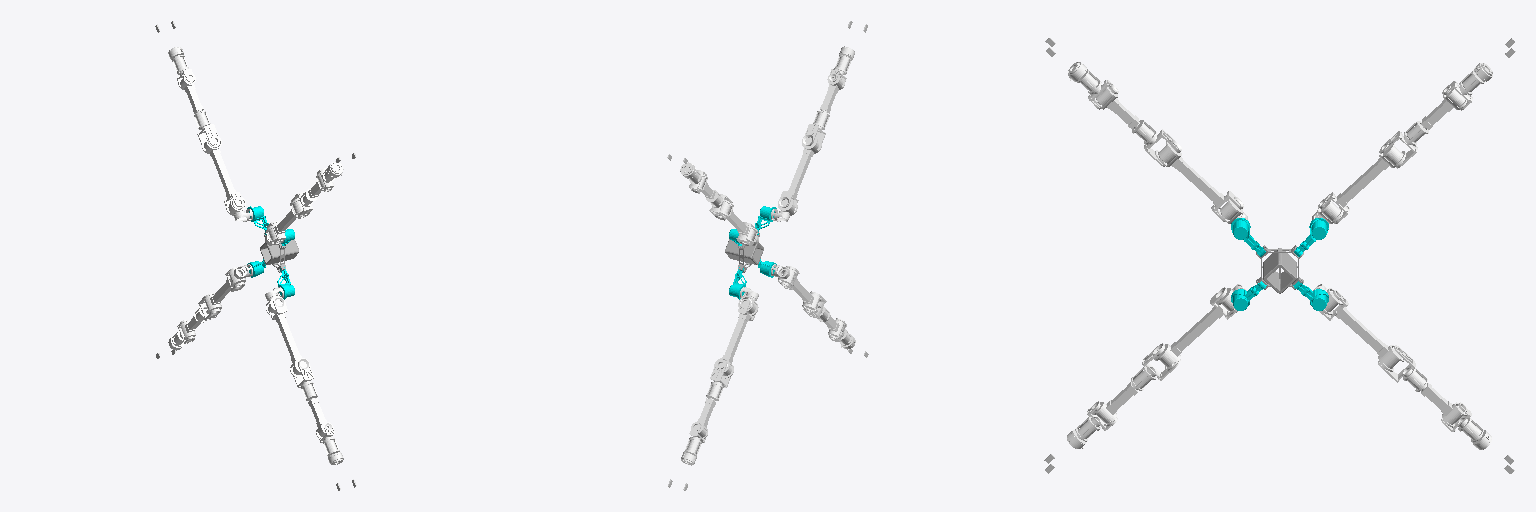
--- Render facts (derived) ---
Views: 3 orthographic renders of the robot side by side, from view 1: azimuth 30°, elevation 25°; view 2: azimuth 150°, elevation 25°; view 3: azimuth 270°, elevation 25°.
Model robot_description with 74 links and 73 joints (52 revolute, 21 fixed), rooted at world, posed all joints at 0.
Links seen in each view (by area): view 1: Link4_2, Link2_2, base_link, Link3_2; view 2: Link3_2, Link1_2, base_link, Link2_2, Link1_3; view 3: base_link, Link2_2, Link3_2, Link1_2, Link4_2, Link4_3, Link3_3, Link2_3, Link1_3, Link1_4, Link4_4, Link2_4 (+7 smaller).
Boxes of the visible links, x1,y1,x2,y2 form: Link4_2: (268, 297, 310, 377); Link2_2: (202, 137, 243, 206); base_link: (260, 232, 298, 272); Link3_2: (267, 199, 302, 244); Link3_2: (779, 137, 821, 211); Link1_2: (714, 299, 755, 378); base_link: (725, 230, 763, 272); Link2_2: (720, 200, 755, 246); Link1_3: (706, 359, 730, 400); base_link: (1256, 245, 1303, 293); Link2_2: (1318, 143, 1405, 223); Link3_2: (1155, 141, 1243, 221); Link1_2: (1319, 290, 1404, 371); Link4_2: (1154, 287, 1237, 370); Link4_3: (1131, 343, 1180, 390); Link3_3: (1132, 120, 1181, 166); Link2_3: (1379, 121, 1428, 168); Link1_3: (1378, 345, 1427, 391); Link1_4: (1421, 383, 1466, 427); Link4_4: (1092, 382, 1137, 426); Link2_4: (1421, 88, 1466, 129).
Size in the robot's own frame: 0.2682 by 1.88 by 1.88 metres.
Meshes: 13 distinct files referenced, 29 mesh visuals loaded (8 binary STL); not drawn: 36 (reference not matched to a file when rendering).

The robot description file, URDF, robot "robot_description":
<?xml version="1.0" ?>
<!-- =================================================================================== -->
<!-- |    This document was autogenerated by xacro from robot_description_moveit.xacro | -->
<!-- |    EDITING THIS FILE BY HAND IS NOT RECOMMENDED                                 | -->
<!-- =================================================================================== -->
<!-- This URDF was automatically created by SolidWorks to URDF Exporter! Originally created by Stephen Brawner ([email redacted]) 
     Commit Version: 1.6.0-1-g15f4949  Build Version: 1.6.7594.29634
     For more information, please see http://wiki.ros.org/sw_urdf_exporter -->
<robot name="robot_description">
    <!--body*********************************************************************************************************-->
    <link name="world" />
    <joint name="world_joint" type="fixed">
        <parent link="world" />
        <child link="base_link" />
        <origin rpy="0 1.5708 0" xyz="0 0 0.45" />
    </joint>
    <link name="base_link">
        <inertial>
            <origin rpy="0 0 0" xyz="0 0 0.042" />
            <mass value="1.492" />
            <inertia ixx="0.004886486" ixy="-0.000017397" ixz="-0.000263075" iyy="0.004100237" iyz="0" izz="0.003937989" />
        </inertial>
        <visual>
            <origin rpy="0 0 0" xyz="0 0 0" />
            <geometry>
                <mesh filename="package://robot_description/meshes/base_link.STL" />
            </geometry>
            <material name="">
                <color rgba="0.75294 0.75294 0.75294 1" />
            </material>
        </visual>
        <collision>
            <origin rpy="0 0 0" xyz="0 0 0" />
            <geometry>
                <mesh filename="package://robot_description/meshes/base_link.STL" />
            </geometry>
            <surface>
                <friction>
                    <torsional>
                        <coefficient>5.0</coefficient>
                        <surface_radius>0.10</surface_radius>
                        <use_patch_radius>false</use_patch_radius>
                    </torsional>
                </friction>
            </surface>
        </collision>
    </link>
    <link name="Link1_0">
        <inertial>
            <origin rpy="0 0 0" xyz="0.085427 -0.025518 0" />
            <mass value="0.960" />
            <inertia ixx="0.000648473" ixy="-0.001018876" ixz="0.000012959" iyy="0.002674366" iyz="0" izz="0.003031056" />
        </inertial>
        <visual>
            <origin rpy="0 0 0" xyz="0 0 0" />
            <geometry>
                <mesh filename="package://robot_description/meshes/Link_0.STL" />
            </geometry>
            <material name="">
                <color rgba="0 1 1 1" />
            </material>
        </visual>
        <collision>
            <origin rpy="0 0 0" xyz="0 0 0" />
            <geometry>
                <mesh filename="package://robot_description/meshes/Link_0.STL" />
            </geometry>
        </collision>
    </link>
    <joint name="Joint1_0" type="revolute">
        <origin rpy="1.5707963267948966 0 0.7853981633974483" xyz="0.072125 0.072125 0.018" />
        <parent link="base_link" />
        <child link="Link1_0" />
        <axis xyz="0 0 1" />
        <dynamics damping="0.1" friction="0.8" />
        <limit effort="1000" lower="0" upper="1.5707963267948966" velocity="10" />
    </joint>
    <link name="Link1_1">
        <inertial>
            <origin rpy="0 0 0" xyz="0.052469 -0.009040 0.002060" />
            <mass value="0.914" />
            <inertia ixx="0.000671687" ixy="-0.000084224" ixz="-0.000107815" iyy="0.000786758" iyz="0.000017298" izz="0.000958254" />
        </inertial>
        <visual>
            <origin rpy="0 0 0" xyz="0 0 0" />
            <geometry>
                <mesh filename="package://robot_description/meshes/Link_1.STL" />
            </geometry>
            <material name="">
                <color rgba="1 1 1 1" />
            </material>
        </visual>
        <collision>
            <origin rpy="0 0 0" xyz="0 0 0" />
            <geometry>
                <mesh filename="package://robot_description/meshes/Link_1.STL" />
            </geometry>
        </collision>
    </link>
    <joint name="Joint1_1" type="revolute">
        <origin rpy="-1.5707963267948966 0 0" xyz="0.12 -0.117 0" />
        <parent link="Link1_0" />
        <child link="Link1_1" />
        <axis xyz="0 0 1" />
        <dynamics damping="0.1" friction="0.8" />
        <limit effort="300" lower="-2.356194490192345" upper="4.71238898038469" velocity="10" />
    </joint>
    <link name="Link1_2">
        <inertial>
            <origin rpy="0 0 0" xyz="0.273270 0.000006 0.007530" />
            <mass value="1.144" />
            <inertia ixx="0.000909959" ixy="0" ixz="0.000569994" iyy="0.018834040" iyz="0" izz="0.018336908" />
        </inertial>
        <visual>
            <origin rpy="0 0 0" xyz="0 0 0" />
            <geometry>
                <mesh filename="package://robot_description/meshes/Link_2.STL" />
            </geometry>
            <material name="">
                <color rgba="1 1 1 1" />
            </material>
        </visual>
        <collision>
            <origin rpy="0 0 0" xyz="0 0 0" />
            <geometry>
                <mesh filename="package://robot_description/meshes/Link_2.STL" />
            </geometry>
        </collision>
    </link>
    <joint name="Joint1_2" type="revolute">
        <origin rpy="1.5707963267948966 0 0" xyz="0.0625 -0.0025 0" />
        <parent link="Link1_1" />
        <child link="Link1_2" />
        <axis xyz="0 0 1" />
        <dynamics damping="0.1" friction="0.8" />
        <limit effort="300" lower="-2.0943951023931953" upper="1.5707963267948966" velocity="10" />
    </joint>
    <link name="Link1_3">
        <inertial>
            <origin rpy="0 0 0" xyz="0.081336 -0.0003 -0.000693" />
            <mass value="0.395" />
            <inertia ixx="0.000576423" ixy="0" ixz="0.000031283" iyy="0.001662107" iyz="0" izz="0.001334389" />
        </inertial>
        <visual>
            <origin rpy="0 0 0" xyz="0 0 0" />
            <geometry>
                <mesh filename="package://robot_description/meshes/Link_3.STL" />
            </geometry>
            <material name="">
                <color rgba="1 1 1 1" />
            </material>
        </visual>
        <collision>
            <origin rpy="0 0 0" xyz="0 0 0" />
            <geometry>
                <mesh filename="package://robot_description/meshes/Link_3.STL" />
            </geometry>
        </collision>
    </link>
    <joint name="Joint1_3" type="revolute">
        <origin rpy="-3.141592653589793 0 0" xyz="0.35 0.0002 0" />
        <parent link="Link1_2" />
        <child link="Link1_3" />
        <axis xyz="0 0 1" />
        <dynamics damping="0.1" friction="0.8" />
        <limit effort="300" lower="-2.530727415391778" upper="2.530727415391778" velocity="10" />
    </joint>
    <link name="Link1_4">
        <inertial>
            <origin rpy="0 0 0" xyz="0.005438 0.000120 0.134002" />
            <mass value="0.376" />
            <inertia ixx="0.0001484574" ixy="0" ixz="0.000099045" iyy="0.001658464" iyz="-0.000002871" izz="0.000360737" />
        </inertial>
        <visual>
            <origin rpy="0 0 0" xyz="0 0 0" />
            <geometry>
                <mesh filename="package://robot_description/meshes/Link_4.STL" />
            </geometry>
            <material name="">
                <color rgba="1 1 1 1" />
            </material>
        </visual>
        <collision>
            <origin rpy="0 0 0" xyz="0 0 0" />
            <geometry>
                <mesh filename="package://robot_description/meshes/Link_4.STL" />
            </geometry>
        </collision>
    </link>
    <joint name="Joint1_4" type="revolute">
        <origin rpy="0 -1.5707963267948966 -3.141592653589793" xyz="0.1745 0 0" />
        <parent link="Link1_3" />
        <child link="Link1_4" />
        <axis xyz="0 0 1" />
        <dynamics damping="0.1" friction="0.8" />
        <limit effort="100" lower="-3.141592653589793" upper="3.141592653589793" velocity="10" />
    </joint>
    <link name="Link1_5">
        <inertial>
            <origin rpy="0 0 0" xyz="0.058277 0 -0.001068" />
            <mass value="0.327" />
            <inertia ixx="0.000412080" ixy="0" ixz="0.000002889" iyy="0.000943104" iyz="0" izz="0.000708641" />
        </inertial>
        <visual>
            <origin rpy="0 0 0" xyz="0 0 0" />
            <geometry>
                <mesh filename="package://robot_description/meshes/Link_5.STL" />
            </geometry>
            <material name="">
                <color rgba="1 1 1 1" />
            </material>
        </visual>
        <collision>
            <origin rpy="0 0 0" xyz="0 0 0" />
            <geometry>
                <mesh filename="package://robot_description/meshes/Link_5.STL" />
            </geometry>
        </collision>
    </link>
    <joint name="Joint1_5" type="revolute">
        <origin rpy="3.141592653589793 -1.5707963267948966 0" xyz="0 0 0.1795" />
        <parent link="Link1_4" />
        <child link="Link1_5" />
        <axis xyz="0 0 1" />
        <dynamics damping="0.1" friction="0.8" />
        <limit effort="100" lower="-1.9198621771937623" upper="1.9198621771937623" velocity="10" />
    </joint>
    <link name="Link1_6">
        <inertial>
            <origin rpy="0 0 0" xyz="-0.000076 -0.001467 0.088450" />
            <mass value="0.366" />
            <inertia ixx="0.000945510" ixy="-0.000011196" ixz="0" iyy="0.000811306" iyz="-0.000011704" izz="0.000402389" />
        </inertial>
        <visual>
            <origin rpy="0 0 0" xyz="0 0 0" />
            <geometry>
                <mesh filename="package://robot_description/meshes/Link_6.STL" />
            </geometry>
            <material name="">
                <color rgba="1 1 1 1" />
            </material>
        </visual>
        <collision>
            <origin rpy="0 0 0" xyz="0 0 0" />
            <geometry>
                <mesh filename="package://robot_description/meshes/Link_6.STL" />
            </geometry>
        </collision>
    </link>
    <joint name="Joint1_6" type="revolute">
        <origin rpy="3.141592653589793 -1.5707963267948966 0" xyz="0.141 0 0" />
        <parent link="Link1_5" />
        <child link="Link1_6" />
        <axis xyz="0 0 1" />
        <dynamics damping="0.1" friction="0.8" />
        <limit effort="100" lower="-3.141592653589793" upper="3.141592653589793" velocity="10" />
    </joint>
    <!--定义fixed关节，将robotiq_arg2f_base_link连接到机械臂末端的tool0-->
    <joint name="Joint1_hand" type="fixed">
        <parent link="Link1_6" />
        <child link="Link1_robotiq_arg2f_base_link" />
        <origin rpy="0 0 0" xyz="0 0 0.0385" />
    </joint>
    <transmission name="Link1_finger_joint_trans">
        <type>transmission_interface/SimpleTransmission</type>
        <joint name="Link1_finger_joint">
            <hardwareInterface>hardware_interface/EffortJointInterface</hardwareInterface>
        </joint>
        <actuator name="Link1_finger_joint_motor">
            <mechanicalReduction>1</mechanicalReduction>
            <hardwareInterface>hardware_interface/EffortJointInterface</hardwareInterface>
        </actuator>
    </transmission>
    <!-- base link -->
    <link name="Link1_robotiq_arg2f_base_link">
        <inertial>
            <origin rpy="0 0 0" xyz="8.625E-08 -4.6583E-06 0.03145" />
            <mass value="0.22652" />
            <inertia ixx="0.00020005" ixy="-4.2442E-10" ixz="-2.9069E-10" iyy="0.00017832" iyz="-3.4402E-08" izz="0.00013478" />
        </inertial>
        <visual>
            <origin rpy="0 0 0" xyz="0 0 0" />
            <geometry>
                <mesh filename="package://robotiq_2f_85_gripper_visualization/meshes/visual/robotiq_arg2f_base_link.stl" />
            </geometry>
            <material name="">
                <color rgba="0.1 0.1 0.1 1" />
            </material>
        </visual>
        <collision>
            <origin rpy="0 0 0" xyz="0 0 0" />
            <!-- <geometry><sphere radius="0.04" /></geometry> -->
            <geometry>
                <mesh filename="package://robotiq_2f_85_gripper_visualization/meshes/collision/robotiq_arg2f_base_link.stl" />
            </geometry>
            <surface>
                <friction>
                    <torsional>
                        <coefficient>5.0</coefficient>
                        <surface_radius>0.01</surface_radius>
                        <use_patch_radius>false</use_patch_radius>
                    </torsional>
                </friction>
            </surface>
        </collision>
    </link>
    <link name="Link1_left_outer_knuckle">
        <inertial>
            <origin rpy="0 0 0" xyz="-0.000200000000003065 0.0199435877845359 0.0292245259211331" />
            <mass value="0.00853198276973456" />
            <inertia ixx="2.89328108496468E-06" ixy="-1.57935047237397E-19" ixz="-1.93980378593255E-19" iyy="1.86719750325683E-06" iyz="-1.21858577871576E-06" izz="1.21905238907251E-06" />
        </inertial>
        <visual>
            <origin rpy="0 0 0" xyz="0 0 0" />
            <geometry>
                <mesh filename="package://robotiq_2f_85_gripper_visualization/meshes/visual/robotiq_arg2f_85_outer_knuckle.dae" scale="0.001 0.001 0.001" />
            </geometry>
            <material name="">
                <color rgba="0.792156862745098 0.819607843137255 0.933333333333333 1" />
            </material>
        </visual>
        <collision>
            <origin rpy="0 0 0" xyz="0 0 0" />
            <geometry>
                <mesh filename="package://robotiq_2f_85_gripper_visualization/meshes/collision/robotiq_arg2f_85_outer_knuckle.dae" scale="0.001 0.001 0.001" />
            </geometry>
        </collision>
    </link>
    <link name="Link1_left_outer_finger">
        <inertial>
            <origin rpy="0 0 0" xyz="0.00030115855001899 0.0373907951953854 -0.0208027427000385" />
            <mass value="0.022614240507152" />
            <inertia ixx="1.52518312458174E-05" ixy="9.76583423954399E-10" ixz="-5.43838577022588E-10" iyy="6.17694243867776E-06" iyz="6.78636130740228E-06" izz="1.16494917907219E-05" />
        </inertial>
        <visual>
            <origin rpy="0 0 0" xyz="0 0 0" />
            <geometry>
                <mesh filename="package://robotiq_2f_85_gripper_visualization/meshes/visual/robotiq_arg2f_85_outer_finger.dae" scale="0.001 0.001 0.001" />
            </geometry>
            <material name="">
                <color rgba="0.1 0.1 0.1 1" />
            </material>
        </visual>
        <collision>
            <origin rpy="0 0 0" xyz="0 0 0" />
            <geometry>
                <mesh filename="package://robotiq_2f_85_gripper_visualization/meshes/collision/robotiq_arg2f_85_outer_finger.dae" scale="0.001 0.001 0.001" />
            </geometry>
        </collision>
    </link>
    <link name="Link1_left_inner_finger">
        <inertial>
            <origin rpy="0 0 0" xyz="0.000299999999999317 0.0160078233491243 -0.0136945669206257" />
            <mass value="0.0104003125914103" />
            <inertia ixx="2.71909453810972E-06" ixy="1.35402465472579E-21" ixz="-7.1817349065269E-22" iyy="7.69100314106116E-07" iyz="6.74715432769696E-07" izz="2.30315190420171E-06" />
        </inertial>
        <visual>
            <origin rpy="0 0 0" xyz="0 0 0" />
            <geometry>
                <mesh filename="package://robotiq_2f_85_gripper_visualization/meshes/visual/robotiq_arg2f_85_inner_finger.dae" scale="0.001 0.001 0.001" />
            </geometry>
            <material name="">
                <color rgba="0.1 0.1 0.1 1" />
            </material>
        </visual>
        <collision>
            <origin rpy="0 0 0" xyz="0 0 0" />
            <geometry>
                <mesh filename="package://robotiq_2f_85_gripper_visualization/meshes/collision/robotiq_arg2f_85_inner_finger.dae" scale="0.001 0.001 0.001" />
            </geometry>
        </collision>
    </link>
    <link name="Link1_left_inner_finger_pad">
        <visual>
            <origin rpy="0 0 0" xyz="0 0 0" />
            <geometry>
                <box size="0.022 0.00635 0.0375" />
            </geometry>
            <material name="">
                <color rgba="0.9 0.9 0.9 1" />
            </material>
        </visual>
        <collision>
            <origin rpy="0 0 0" xyz="0 0 0" />
            <geometry>
                <box size="0.022 0.00635 0.0375" />
            </geometry>
            <material name="">
                <color rgba="0.9 0.0 0.0 1" />
            </material>
        </collision>
        <inertial>
            <mass value="0.1" />
            <origin xyz="0 0 0" rpy="0 0 0" />
            <inertia ixx="0.03" iyy="0.03" izz="0.03" ixy="0.0" ixz="0.0" iyz="0.0" />
        </inertial>
    </link>
    <link name="Link1_left_inner_knuckle">
        <inertial>
            <origin rpy="0 0 0" xyz="0.000123011831763771 0.0507850843201817 0.00103968640075166" />
            <mass value="0.0271177346495152" />
            <inertia ixx="2.61910379223783E-05" ixy="-2.43616858946494E-07" ixz="-6.37789906117123E-09" iyy="2.8270243746167E-06" iyz="-5.37200748039765E-07" izz="2.83695868220296E-05" />
        </inertial>
        <visual>
            <origin rpy="0 0 0" xyz="0 0 0" />
            <geometry>
                <mesh filename="package://robotiq_2f_85_gripper_visualization/meshes/visual/robotiq_arg2f_85_inner_knuckle.dae" scale="0.001 0.001 0.001" />
            </geometry>
            <material name="">
                <color rgba="0.1 0.1 0.1 1" />
            </material>
        </visual>
        <collision>
            <origin rpy="0 0 0" xyz="0 0 0" />
            <geometry>
                <mesh filename="package://robotiq_2f_85_gripper_visualization/meshes/collision/robotiq_arg2f_85_inner_knuckle.dae" scale="0.001 0.001 0.001" />
            </geometry>
        </collision>
    </link>
    <joint name="Link1_left_outer_finger_joint" type="fixed">
        <origin rpy="0 0 0" xyz="0 0.0315 -0.0041" />
        <parent link="Link1_left_outer_knuckle" />
        <child link="Link1_left_outer_finger" />
        <axis xyz="1 0 0" />
    </joint>
    <joint name="Link1_left_inner_knuckle_joint" type="revolute">
        <!-- <origin xyz="0 ${reflect * -0.0127} 0.06142" rpy="${pi / 2 + .725} 0 ${(reflect - 1) * pi / 2}" /> -->
        <origin rpy="0 0 3.141592653589793" xyz="0 -0.0127 0.06142" />
        <parent link="Link1_robotiq_arg2f_base_link" />
        <child link="Link1_left_inner_knuckle" />
        <axis xyz="1 0 0" />
        <limit effort="1000" lower="0" upper="0.8757" velocity="0.5" />
        <mimic joint="Link1_finger_joint" multiplier="1" offset="0" />
    </joint>
    <joint name="Link1_left_inner_finger_joint" type="revolute">
        <origin rpy="0 0 0" xyz="0 0.0061 0.0471" />
        <parent link="Link1_left_outer_finger" />
        <child link="Link1_left_inner_finger" />
        <axis xyz="1 0 0" />
        <limit effort="1000" lower="-0.8757" upper="0" velocity="0.5" />
        <mimic joint="Link1_finger_joint" multiplier="-1" offset="0" />
    </joint>
    <joint name="Link1_left_inner_finger_pad_joint" type="fixed">
        <origin rpy="0 0 0" xyz="0 -0.0220203446692936 0.03242" />
        <parent link="Link1_left_inner_finger" />
        <child link="Link1_left_inner_finger_pad" />
        <axis xyz="0 0 1" />
    </joint>
    <joint name="Link1_finger_joint" type="revolute">
        <origin rpy="0 0 3.141592653589793" xyz="0 -0.0306011 0.054904" />
        <parent link="Link1_robotiq_arg2f_base_link" />
        <child link="Link1_left_outer_knuckle" />
        <axis xyz="1 0 0" />
        <limit effort="1000" lower="0" upper="0.8" velocity="0.5" />
    </joint>
    <joint name="Link1_right_outer_finger_joint" type="fixed">
        <origin rpy="0 0 0" xyz="0 0.0315 -0.0041" />
        <parent link="Link1_right_outer_knuckle" />
        <child link="Link1_right_outer_finger" />
        <axis xyz="1 0 0" />
    </joint>
    <joint name="Link1_right_inner_knuckle_joint" type="revolute">
        <!-- <origin xyz="0 ${reflect * -0.0127} 0.06142" rpy="${pi / 2 + .725} 0 ${(reflect - 1) * pi / 2}" /> -->
        <origin rpy="0 0 0.0" xyz="0 0.0127 0.06142" />
        <parent link="Link1_robotiq_arg2f_base_link" />
        <child link="Link1_right_inner_knuckle" />
        <axis xyz="1 0 0" />
        <limit effort="1000" lower="0" upper="0.8757" velocity="0.5" />
        <mimic joint="Link1_finger_joint" multiplier="1" offset="0" />
    </joint>
    <joint name="Link1_right_inner_finger_joint" type="revolute">
        <origin rpy="0 0 0" xyz="0 0.0061 0.0471" />
        <parent link="Link1_right_outer_finger" />
        <child link="Link1_right_inner_finger" />
        <axis xyz="1 0 0" />
        <limit effort="1000" lower="-0.8757" upper="0" velocity="0.5" />
        <mimic joint="Link1_finger_joint" multiplier="-1" offset="0" />
    </joint>
    <joint name="Link1_right_inner_finger_pad_joint" type="fixed">
        <origin rpy="0 0 0" xyz="0 -0.0220203446692936 0.03242" />
        <parent link="Link1_right_inner_finger" />
        <child link="Link1_right_inner_finger_pad" />
        <axis xyz="0 0 1" />
    </joint>
    <link name="Link1_right_outer_knuckle">
        <inertial>
            <origin rpy="0 0 0" xyz="-0.000200000000003065 0.0199435877845359 0.0292245259211331" />
            <mass value="0.00853198276973456" />
            <inertia ixx="2.89328108496468E-06" ixy="-1.57935047237397E-19" ixz="-1.93980378593255E-19" iyy="1.86719750325683E-06" iyz="-1.21858577871576E-06" izz="1.21905238907251E-06" />
        </inertial>
        <visual>
            <origin rpy="0 0 0" xyz="0 0 0" />
            <geometry>
                <mesh filename="package://robotiq_2f_85_gripper_visualization/meshes/visual/robotiq_arg2f_85_outer_knuckle.dae" scale="0.001 0.001 0.001" />
            </geometry>
            <material name="">
                <color rgba="0.792156862745098 0.819607843137255 0.933333333333333 1" />
            </material>
        </visual>
        <collision>
            <origin rpy="0 0 0" xyz="0 0 0" />
            <geometry>
                <mesh filename="package://robotiq_2f_85_gripper_visualization/meshes/collision/robotiq_arg2f_85_outer_knuckle.dae" scale="0.001 0.001 0.001" />
            </geometry>
        </collision>
    </link>
    <link name="Link1_right_outer_finger">
        <inertial>
            <origin rpy="0 0 0" xyz="0.00030115855001899 0.0373907951953854 -0.0208027427000385" />
            <mass value="0.022614240507152" />
            <inertia ixx="1.52518312458174E-05" ixy="9.76583423954399E-10" ixz="-5.43838577022588E-10" iyy="6.17694243867776E-06" iyz="6.78636130740228E-06" izz="1.16494917907219E-05" />
        </inertial>
        <visual>
            <origin rpy="0 0 0" xyz="0 0 0" />
            <geometry>
                <mesh filename="package://robotiq_2f_85_gripper_visualization/meshes/visual/robotiq_arg2f_85_outer_finger.dae" scale="0.001 0.001 0.001" />
            </geometry>
            <material name="">
                <color rgba="0.1 0.1 0.1 1" />
            </material>
        </visual>
        <collision>
            <origin rpy="0 0 0" xyz="0 0 0" />
            <geometry>
                <mesh filename="package://robotiq_2f_85_gripper_visualization/meshes/collision/robotiq_arg2f_85_outer_finger.dae" scale="0.001 0.001 0.001" />
            </geometry>
        </collision>
    </link>
    <link name="Link1_right_inner_finger">
        <inertial>
            <origin rpy="0 0 0" xyz="0.000299999999999317 0.0160078233491243 -0.0136945669206257" />
            <mass value="0.0104003125914103" />
            <inertia ixx="2.71909453810972E-06" ixy="1.35402465472579E-21" ixz="-7.1817349065269E-22" iyy="7.69100314106116E-07" iyz="6.74715432769696E-07" izz="2.30315190420171E-06" />
        </inertial>
        <visual>
            <origin rpy="0 0 0" xyz="0 0 0" />
            <geometry>
                <mesh filename="package://robotiq_2f_85_gripper_visualization/meshes/visual/robotiq_arg2f_85_inner_finger.dae" scale="0.001 0.001 0.001" />
            </geometry>
            <material name="">
                <color rgba="0.1 0.1 0.1 1" />
            </material>
        </visual>
        <collision>
            <origin rpy="0 0 0" xyz="0 0 0" />
            <geometry>
                <mesh filename="package://robotiq_2f_85_gripper_visualization/meshes/collision/robotiq_arg2f_85_inner_finger.dae" scale="0.001 0.001 0.001" />
            </geometry>
        </collision>
    </link>
    <link name="Link1_right_inner_finger_pad">
        <visual>
            <origin rpy="0 0 0" xyz="0 0 0" />
            <geometry>
                <box size="0.022 0.00635 0.0375" />
            </geometry>
            <material name="">
                <color rgba="0.9 0.9 0.9 1" />
            </material>
        </visual>
        <collision>
            <origin rpy="0 0 0" xyz="0 0 0" />
            <geometry>
                <box size="0.022 0.00635 0.0375" />
            </geometry>
            <material name="">
                <color rgba="0.9 0.0 0.0 1" />
            </material>
        </collision>
        <inertial>
            <mass value="0.1" />
            <origin xyz="0 0 0" rpy="0 0 0" />
            <inertia ixx="0.03" iyy="0.03" izz="0.03" ixy="0.0" ixz="0.0" iyz="0.0" />
        </inertial>
    </link>
    <link name="Link1_right_inner_knuckle">
        <inertial>
            <origin rpy="0 0 0" xyz="0.000123011831763771 0.0507850843201817 0.00103968640075166" />
            <mass value="0.0271177346495152" />
            <inertia ixx="2.61910379223783E-05" ixy="-2.43616858946494E-07" ixz="-6.37789906117123E-09" iyy="2.8270243746167E-06" iyz="-5.37200748039765E-07" izz="2.83695868220296E-05" />
        </inertial>
        <visual>
            <origin rpy="0 0 0" xyz="0 0 0" />
            <geometry>
                <mesh filename="package://robotiq_2f_85_gripper_visualization/meshes/visual/robotiq_arg2f_85_inner_knuckle.dae" scale="0.001 0.001 0.001" />
            </geometry>
            <material name="">
                <color rgba="0.1 0.1 0.1 1" />
            </material>
        </visual>
        <collision>
            <origin rpy="0 0 0" xyz="0 0 0" />
            <geometry>
                <mesh filename="package://robotiq_2f_85_gripper_visualization/meshes/collision/robotiq_arg2f_85_inner_knuckle.dae" scale="0.001 0.001 0.001" />
            </geometry>
        </collision>
    </link>
    <joint name="Link1_right_finger_joint" type="revolute">
        <origin rpy="0 0 0" xyz="0 0.0306011 0.054904" />
        <parent link="Link1_robotiq_arg2f_base_link" />
        <child link="Link1_right_outer_knuckle" />
        <axis xyz="1 0 0" />
        <limit effort="1000" lower="0" upper="0.81" velocity="0.5" />
        <mimic joint="Link1_finger_joint" multiplier="1" offset="0" />
    </joint>
    <link name="Link2_0">
        <inertial>
            <origin rpy="0 0 0" xyz="0.085427 -0.025518 0" />
            <mass value="0.960" />
            <inertia ixx="0.000648473" ixy="-0.001018876" ixz="0.000012959" iyy="0.002674366" iyz="0" izz="0.003031056" />
        </inertial>
        <visual>
            <origin rpy="0 0 0" xyz="0 0 0" />
            <geometry>
                <mesh filename="package://robot_description/meshes/Link_0.STL" />
            </geometry>
            <material name="">
                <color rgba="0 1 1 1" />
            </material>
        </visual>
        <collision>
            <origin rpy="0 0 0" xyz="0 0 0" />
            <geometry>
                <mesh filename="package://robot_description/meshes/Link_0.STL" />
            </geometry>
        </collision>
    </link>
    <joint name="Joint2_0" type="revolute">
        <origin rpy="1.5707963267948966 0 2.356194490192345" xyz="-0.072125 0.072125 0.018" />
        <parent link="base_link" />
        <child link="Link2_0" />
        <axis xyz="0 0 1" />
        <dynamics damping="0.1" friction="0.8" />
        <limit effort="1000" lower="0" upper="1.5707963267948966" velocity="10" />
    </joint>
    <link name="Link2_1">
        <inertial>
            <origin rpy="0 0 0" xyz="0.052469 -0.009040 0.002060" />
            <mass value="0.914" />
            <inertia ixx="0.000671687" ixy="-0.000084224" ixz="-0.000107815" iyy="0.000786758" iyz="0.000017298" izz="0.000958254" />
        </inertial>
        <visual>
            <origin rpy="0 0 0" xyz="0 0 0" />
            <geometry>
                <mesh filename="package://robot_description/meshes/Link_1.STL" />
            </geometry>
            <material name="">
                <color rgba="1 1 1 1" />
            </material>
        </visual>
        <collision>
            <origin rpy="0 0 0" xyz="0 0 0" />
            <geometry>
                <mesh filename="package://robot_description/meshes/Link_1.STL" />
            </geometry>
        </collision>
    </link>
    <joint name="Joint2_1" type="revolute">
        <origin rpy="-1.5707963267948966 0 0" xyz="0.12 -0.117 0" />
        <parent link="Link2_0" />
        <child link="Link2_1" />
        <axis xyz="0 0 1" />
        <dynamics damping="0.1" friction="0.8" />
        <limit effort="300" lower="-2.356194490192345" upper="4.71238898038469" velocity="10" />
    </joint>
    <link name="Link2_2">
        <inertial>
            <origin rpy="0 0 0" xyz="0.273270 0.000006 0.007530" />
            <mass value="1.144" />
            <inertia ixx="0.000909959" ixy="0" ixz="0.000569994" iyy="0.018834040" iyz="0" izz="0.018336908" />
        </inertial>
        <visual>
            <origin rpy="0 0 0" xyz="0 0 0" />
            <geometry>
                <mesh filename="package://robot_description/meshes/Link_2.STL" />
            </geometry>
            <material name="">
                <color rgba="1 1 1 1" />
            </material>
        </visual>
        <collision>
            <origin rpy="0 0 0" xyz="0 0 0" />
            <geometry>
                <mesh filename="package://robot_description/meshes/Link_2.STL" />
            </geometry>
        </collision>
    </link>
    <joint name="Joint2_2" type="revolute">
        <origin rpy="1.5707963267948966 0 0" xyz="0.0625 -0.0025 0" />
        <parent link="Link2_1" />
        <child link="Link2_2" />
        <axis xyz="0 0 1" />
        <dynamics damping="0.1" friction="0.8" />
        <limit effort="300" lower="-2.0943951023931953" upper="1.5707963267948966" velocity="10" />
    </joint>
    <link name="Link2_3">
        <inertial>
            <origin rpy="0 0 0" xyz="0.081336 -0.0003 -0.000693" />
            <mass value="0.395" />
            <inertia ixx="0.000576423" ixy="0" ixz="0.000031283" iyy="0.001662107" iyz="0" izz="0.001334389" />
        </inertial>
        <visual>
            <origin rpy="0 0 0" xyz="0 0 0" />
            <geometry>
                <mesh filename="package://robot_description/meshes/Link_3.STL" />
            </geometry>
            <material name="">
                <color rgba="1 1 1 1" />
            </material>
        </visual>
        <collision>
            <origin rpy="0 0 0" xyz="0 0 0" />
            <geometry>
                <mesh filename="package://robot_description/meshes/Link_3.STL" />
            </geometry>
        </collision>
    </link>
    <joint name="Joint2_3" type="revolute">
        <origin rpy="-3.141592653589793 0 0" xyz="0.35 0.0002 0" />
        <parent link="Link2_2" />
        <child link="Link2_3" />
        <axis xyz="0 0 1" />
        <dynamics damping="0.1" friction="0.8" />
        <limit effort="300" lower="-2.530727415391778" upper="2.530727415391778" velocity="10" />
    </joint>
    <link name="Link2_4">
        <inertial>
            <origin rpy="0 0 0" xyz="0.005438 0.000120 0.134002" />
            <mass value="0.376" />
            <inertia ixx="0.0001484574" ixy="0" ixz="0.000099045" iyy="0.001658464" iyz="-0.000002871" izz="0.000360737" />
        </inertial>
        <visual>
            <origin rpy="0 0 0" xyz="0 0 0" />
            <geometry>
                <mesh filename="package://robot_description/meshes/Link_4.STL" />
            </geometry>
            <material name="">
                <color rgba="1 1 1 1" />
            </material>
        </visual>
        <collision>
            <origin rpy="0 0 0" xyz="0 0 0" />
            <geometry>
                <mesh filename="package://robot_description/meshes/Link_4.STL" />
            </geometry>
        </collision>
    </link>
    <joint name="Joint2_4" type="revolute">
        <origin rpy="0 -1.5707963267948966 -3.141592653589793" xyz="0.1745 0 0" />
        <parent link="Link2_3" />
        <child link="Link2_4" />
        <axis xyz="0 0 1" />
        <dynamics damping="0.1" friction="0.8" />
        <limit effort="100" lower="-3.141592653589793" upper="3.141592653589793" velocity="10" />
    </joint>
    <link name="Link2_5">
        <inertial>
            <origin rpy="0 0 0" xyz="0.058277 0 -0.001068" />
            <mass value="0.327" />
            <inertia ixx="0.000412080" ixy="0" ixz="0.000002889" iyy="0.000943104" iyz="0" izz="0.000708641" />
        </inertial>
        <visual>
            <origin rpy="0 0 0" xyz="0 0 0" />
            <geometry>
                <mesh filename="package://robot_description/meshes/Link_5.STL" />
            </geometry>
            <material name="">
                <color rgba="1 1 1 1" />
            </material>
        </visual>
        <collision>
            <origin rpy="0 0 0" xyz="0 0 0" />
            <geometry>
                <mesh filename="package://robot_description/meshes/Link_5.STL" />
            </geometry>
        </collision>
    </link>
    <joint name="Joint2_5" type="revolute">
        <origin rpy="3.141592653589793 -1.5707963267948966 0" xyz="0 0 0.1795" />
        <parent link="Link2_4" />
        <child link="Link2_5" />
        <axis xyz="0 0 1" />
        <dynamics damping="0.1" friction="0.8" />
        <limit effort="100" lower="-1.9198621771937623" upper="1.9198621771937623" velocity="10" />
    </joint>
    <link name="Link2_6">
        <inertial>
            <origin rpy="0 0 0" xyz="-0.000076 -0.001467 0.088450" />
            <mass value="0.366" />
            <inertia ixx="0.000945510" ixy="-0.000011196" ixz="0" iyy="0.000811306" iyz="-0.000011704" izz="0.000402389" />
        </inertial>
        <visual>
            <origin rpy="0 0 0" xyz="0 0 0" />
            <geometry>
                <mesh filename="package://robot_description/meshes/Link_6.STL" />
            </geometry>
            <material name="">
                <color rgba="1 1 1 1" />
            </material>
        </visual>
        <collision>
            <origin rpy="0 0 0" xyz="0 0 0" />
            <geometry>
                <mesh filename="package://robot_description/meshes/Link_6.STL" />
            </geometry>
        </collision>
    </link>
    <joint name="Joint2_6" type="revolute">
        <origin rpy="3.141592653589793 -1.5707963267948966 0" xyz="0.141 0 0" />
        <parent link="Link2_5" />
        <child link="Link2_6" />
        <axis xyz="0 0 1" />
        <dynamics damping="0.1" friction="0.8" />
        <limit effort="100" lower="-3.141592653589793" upper="3.141592653589793" velocity="10" />
    </joint>
    <!--定义fixed关节，将robotiq_arg2f_base_link连接到机械臂末端的tool0-->
    <joint name="Joint2_hand" type="fixed">
        <parent link="Link2_6" />
        <child link="Link2_robotiq_arg2f_base_link" />
        <origin rpy="0 0 0" xyz="0 0 0.0385" />
    </joint>
    <transmission name="Link2_finger_joint_trans">
        <type>transmission_interface/SimpleTransmission</type>
        <joint name="Link2_finger_joint">
            <hardwareInterface>hardware_interface/EffortJointInterface</hardwareInterface>
        </joint>
        <actuator name="Link2_finger_joint_motor">
            <mechanicalReduction>1</mechanicalReduction>
            <hardwareInterface>hardware_interface/EffortJointInterface</hardwareInterface>
        </actuator>
    </transmission>
    <!-- base link -->
    <link name="Link2_robotiq_arg2f_base_link">
        <inertial>
            <origin rpy="0 0 0" xyz="8.625E-08 -4.6583E-06 0.03145" />
            <mass value="0.22652" />
            <inertia ixx="0.00020005" ixy="-4.2442E-10" ixz="-2.9069E-10" iyy="0.00017832" iyz="-3.4402E-08" izz="0.00013478" />
        </inertial>
        <visual>
            <origin rpy="0 0 0" xyz="0 0 0" />
            <geometry>
                <mesh filename="package://robotiq_2f_85_gripper_visualization/meshes/visual/robotiq_arg2f_base_link.stl" />
            </geometry>
            <material name="">
                <color rgba="0.1 0.1 0.1 1" />
            </material>
        </visual>
        <collision>
            <origin rpy="0 0 0" xyz="0 0 0" />
            <!-- <geometry><sphere radius="0.04" /></geometry> -->
            <geometry>
                <mesh filename="package://robotiq_2f_85_gripper_visualization/meshes/collision/robotiq_arg2f_base_link.stl" />
            </geometry>
            <surface>
                <friction>
                    <torsional>
                        <coefficient>5.0</coefficient>
                        <surface_radius>0.01</surface_radius>
                        <use_patch_radius>false</use_patch_radius>
                    </torsional>
                </friction>
            </surface>
        </collision>
    </link>
    <link name="Link2_left_outer_knuckle">
        <inertial>
            <origin rpy="0 0 0" xyz="-0.000200000000003065 0.0199435877845359 0.0292245259211331" />
            <mass value="0.00853198276973456" />
            <inertia ixx="2.89328108496468E-06" ixy="-1.57935047237397E-19" ixz="-1.93980378593255E-19" iyy="1.86719750325683E-06" iyz="-1.21858577871576E-06" izz="1.21905238907251E-06" />
        </inertial>
        <visual>
            <origin rpy="0 0 0" xyz="0 0 0" />
            <geometry>
                <mesh filename="package://robotiq_2f_85_gripper_visualization/meshes/visual/robotiq_arg2f_85_outer_knuckle.dae" scale="0.001 0.001 0.001" />
            </geometry>
            <material name="">
                <color rgba="0.792156862745098 0.819607843137255 0.933333333333333 1" />
            </material>
        </visual>
        <collision>
            <origin rpy="0 0 0" xyz="0 0 0" />
            <geometry>
                <mesh filename="package://robotiq_2f_85_gripper_visualization/meshes/collision/robotiq_arg2f_85_outer_knuckle.dae" scale="0.001 0.001 0.001" />
            </geometry>
        </collision>
    </link>
    <link name="Link2_left_outer_finger">
        <inertial>
            <origin rpy="0 0 0" xyz="0.00030115855001899 0.0373907951953854 -0.0208027427000385" />
            <mass value="0.022614240507152" />
            <inertia ixx="1.52518312458174E-05" ixy="9.76583423954399E-10" ixz="-5.43838577022588E-10" iyy="6.17694243867776E-06" iyz="6.78636130740228E-06" izz="1.16494917907219E-05" />
        </inertial>
        <visual>
            <origin rpy="0 0 0" xyz="0 0 0" />
            <geometry>
                <mesh filename="package://robotiq_2f_85_gripper_visualization/meshes/visual/robotiq_arg2f_85_outer_finger.dae" scale="0.001 0.001 0.001" />
            </geometry>
            <material name="">
                <color rgba="0.1 0.1 0.1 1" />
            </material>
        </visual>
        <collision>
            <origin rpy="0 0 0" xyz="0 0 0" />
            <geometry>
                <mesh filename="package://robotiq_2f_85_gripper_visualization/meshes/collision/robotiq_arg2f_85_outer_finger.dae" scale="0.001 0.001 0.001" />
            </geometry>
        </collision>
    </link>
    <link name="Link2_left_inner_finger">
        <inertial>
            <origin rpy="0 0 0" xyz="0.000299999999999317 0.0160078233491243 -0.0136945669206257" />
            <mass value="0.0104003125914103" />
            <inertia ixx="2.71909453810972E-06" ixy="1.35402465472579E-21" ixz="-7.1817349065269E-22" iyy="7.69100314106116E-07" iyz="6.74715432769696E-07" izz="2.30315190420171E-06" />
        </inertial>
        <visual>
            <origin rpy="0 0 0" xyz="0 0 0" />
            <geometry>
                <mesh filename="package://robotiq_2f_85_gripper_visualization/meshes/visual/robotiq_arg2f_85_inner_finger.dae" scale="0.001 0.001 0.001" />
            </geometry>
            <material name="">
                <color rgba="0.1 0.1 0.1 1" />
            </material>
        </visual>
        <collision>
            <origin rpy="0 0 0" xyz="0 0 0" />
            <geometry>
                <mesh filename="package://robotiq_2f_85_gripper_visualization/meshes/collision/robotiq_arg2f_85_inner_finger.dae" scale="0.001 0.001 0.001" />
            </geometry>
        </collision>
    </link>
    <link name="Link2_left_inner_finger_pad">
        <visual>
            <origin rpy="0 0 0" xyz="0 0 0" />
            <geometry>
                <box size="0.022 0.00635 0.0375" />
            </geometry>
            <material name="">
                <color rgba="0.9 0.9 0.9 1" />
            </material>
        </visual>
        <collision>
            <origin rpy="0 0 0" xyz="0 0 0" />
            <geometry>
                <box size="0.022 0.00635 0.0375" />
            </geometry>
            <material name="">
                <color rgba="0.9 0.0 0.0 1" />
            </material>
        </collision>
        <inertial>
            <mass value="0.1" />
            <origin xyz="0 0 0" rpy="0 0 0" />
            <inertia ixx="0.03" iyy="0.03" izz="0.03" ixy="0.0" ixz="0.0" iyz="0.0" />
        </inertial>
    </link>
    <link name="Link2_left_inner_knuckle">
        <inertial>
            <origin rpy="0 0 0" xyz="0.000123011831763771 0.0507850843201817 0.00103968640075166" />
            <mass value="0.0271177346495152" />
            <inertia ixx="2.61910379223783E-05" ixy="-2.43616858946494E-07" ixz="-6.37789906117123E-09" iyy="2.8270243746167E-06" iyz="-5.37200748039765E-07" izz="2.83695868220296E-05" />
        </inertial>
        <visual>
            <origin rpy="0 0 0" xyz="0 0 0" />
            <geometry>
                <mesh filename="package://robotiq_2f_85_gripper_visualization/meshes/visual/robotiq_arg2f_85_inner_knuckle.dae" scale="0.001 0.001 0.001" />
            </geometry>
            <material name="">
                <color rgba="0.1 0.1 0.1 1" />
            </material>
        </visual>
        <collision>
            <origin rpy="0 0 0" xyz="0 0 0" />
            <geometry>
                <mesh filename="package://robotiq_2f_85_gripper_visualization/meshes/collision/robotiq_arg2f_85_inner_knuckle.dae" scale="0.001 0.001 0.001" />
            </geometry>
        </collision>
    </link>
    <joint name="Link2_left_outer_finger_joint" type="fixed">
        <origin rpy="0 0 0" xyz="0 0.0315 -0.0041" />
        <parent link="Link2_left_outer_knuckle" />
        <child link="Link2_left_outer_finger" />
        <axis xyz="1 0 0" />
    </joint>
    <joint name="Link2_left_inner_knuckle_joint" type="revolute">
        <!-- <origin xyz="0 ${reflect * -0.0127} 0.06142" rpy="${pi / 2 + .725} 0 ${(reflect - 1) * pi / 2}" /> -->
        <origin rpy="0 0 3.141592653589793" xyz="0 -0.0127 0.06142" />
        <parent link="Link2_robotiq_arg2f_base_link" />
        <child link="Link2_left_inner_knuckle" />
        <axis xyz="1 0 0" />
        <limit effort="1000" lower="0" upper="0.8757" velocity="0.5" />
        <mimic joint="Link2_finger_joint" multiplier="1" offset="0" />
    </joint>
    <joint name="Link2_left_inner_finger_joint" type="revolute">
        <origin rpy="0 0 0" xyz="0 0.0061 0.0471" />
        <parent link="Link2_left_outer_finger" />
        <child link="Link2_left_inner_finger" />
        <axis xyz="1 0 0" />
        <limit effort="1000" lower="-0.8757" upper="0" velocity="0.5" />
        <mimic joint="Link2_finger_joint" multiplier="-1" offset="0" />
    </joint>
    <joint name="Link2_left_inner_finger_pad_joint" type="fixed">
        <origin rpy="0 0 0" xyz="0 -0.0220203446692936 0.03242" />
        <parent link="Link2_left_inner_finger" />
        <child link="Link2_left_inner_finger_pad" />
        <axis xyz="0 0 1" />
    </joint>
    <joint name="Link2_finger_joint" type="revolute">
        <origin rpy="0 0 3.141592653589793" xyz="0 -0.0306011 0.054904" />
        <parent link="Link2_robotiq_arg2f_base_link" />
        <child link="Link2_left_outer_knuckle" />
        <axis xyz="1 0 0" />
        <limit effort="1000" lower="0" upper="0.8" velocity="0.5" />
    </joint>
    <joint name="Link2_right_outer_finger_joint" type="fixed">
        <origin rpy="0 0 0" xyz="0 0.0315 -0.0041" />
        <parent link="Link2_right_outer_knuckle" />
        <child link="Link2_right_outer_finger" />
        <axis xyz="1 0 0" />
    </joint>
    <joint name="Link2_right_inner_knuckle_joint" type="revolute">
        <!-- <origin xyz="0 ${reflect * -0.0127} 0.06142" rpy="${pi / 2 + .725} 0 ${(reflect - 1) * pi / 2}" /> -->
        <origin rpy="0 0 0.0" xyz="0 0.0127 0.06142" />
        <parent link="Link2_robotiq_arg2f_base_link" />
        <child link="Link2_right_inner_knuckle" />
        <axis xyz="1 0 0" />
        <limit effort="1000" lower="0" upper="0.8757" velocity="0.5" />
        <mimic joint="Link2_finger_joint" multiplier="1" offset="0" />
    </joint>
    <joint name="Link2_right_inner_finger_joint" type="revolute">
        <origin rpy="0 0 0" xyz="0 0.0061 0.0471" />
        <parent link="Link2_right_outer_finger" />
        <child link="Link2_right_inner_finger" />
        <axis xyz="1 0 0" />
        <limit effort="1000" lower="-0.8757" upper="0" velocity="0.5" />
        <mimic joint="Link2_finger_joint" multiplier="-1" offset="0" />
    </joint>
    <joint name="Link2_right_inner_finger_pad_joint" type="fixed">
        <origin rpy="0 0 0" xyz="0 -0.0220203446692936 0.03242" />
        <parent link="Link2_right_inner_finger" />
        <child link="Link2_right_inner_finger_pad" />
        <axis xyz="0 0 1" />
    </joint>
    <link name="Link2_right_outer_knuckle">
        <inertial>
            <origin rpy="0 0 0" xyz="-0.000200000000003065 0.0199435877845359 0.0292245259211331" />
            <mass value="0.00853198276973456" />
            <inertia ixx="2.89328108496468E-06" ixy="-1.57935047237397E-19" ixz="-1.93980378593255E-19" iyy="1.86719750325683E-06" iyz="-1.21858577871576E-06" izz="1.21905238907251E-06" />
        </inertial>
        <visual>
            <origin rpy="0 0 0" xyz="0 0 0" />
            <geometry>
                <mesh filename="package://robotiq_2f_85_gripper_visualization/meshes/visual/robotiq_arg2f_85_outer_knuckle.dae" scale="0.001 0.001 0.001" />
            </geometry>
            <material name="">
                <color rgba="0.792156862745098 0.819607843137255 0.933333333333333 1" />
            </material>
        </visual>
        <collision>
            <origin rpy="0 0 0" xyz="0 0 0" />
            <geometry>
                <mesh filename="package://robotiq_2f_85_gripper_visualization/meshes/collision/robotiq_arg2f_85_outer_knuckle.dae" scale="0.001 0.001 0.001" />
            </geometry>
        </collision>
    </link>
    <link name="Link2_right_outer_finger">
        <inertial>
            <origin rpy="0 0 0" xyz="0.00030115855001899 0.0373907951953854 -0.0208027427000385" />
            <mass value="0.022614240507152" />
            <inertia ixx="1.52518312458174E-05" ixy="9.76583423954399E-10" ixz="-5.43838577022588E-10" iyy="6.17694243867776E-06" iyz="6.78636130740228E-06" izz="1.16494917907219E-05" />
        </inertial>
        <visual>
            <origin rpy="0 0 0" xyz="0 0 0" />
            <geometry>
                <mesh filename="package://robotiq_2f_85_gripper_visualization/meshes/visual/robotiq_arg2f_85_outer_finger.dae" scale="0.001 0.001 0.001" />
            </geometry>
            <material name="">
                <color rgba="0.1 0.1 0.1 1" />
            </material>
        </visual>
        <collision>
            <origin rpy="0 0 0" xyz="0 0 0" />
            <geometry>
                <mesh filename="package://robotiq_2f_85_gripper_visualization/meshes/collision/robotiq_arg2f_85_outer_finger.dae" scale="0.001 0.001 0.001" />
            </geometry>
        </collision>
    </link>
    <link name="Link2_right_inner_finger">
        <inertial>
            <origin rpy="0 0 0" xyz="0.000299999999999317 0.0160078233491243 -0.0136945669206257" />
            <mass value="0.0104003125914103" />
            <inertia ixx="2.71909453810972E-06" ixy="1.35402465472579E-21" ixz="-7.1817349065269E-22" iyy="7.69100314106116E-07" iyz="6.74715432769696E-07" izz="2.30315190420171E-06" />
        </inertial>
        <visual>
            <origin rpy="0 0 0" xyz="0 0 0" />
            <geometry>
                <mesh filename="package://robotiq_2f_85_gripper_visualization/meshes/visual/robotiq_arg2f_85_inner_finger.dae" scale="0.001 0.001 0.001" />
            </geometry>
            <material name="">
                <color rgba="0.1 0.1 0.1 1" />
            </material>
        </visual>
        <collision>
            <origin rpy="0 0 0" xyz="0 0 0" />
            <geometry>
                <mesh filename="package://robotiq_2f_85_gripper_visualization/meshes/collision/robotiq_arg2f_85_inner_finger.dae" scale="0.001 0.001 0.001" />
            </geometry>
        </collision>
    </link>
    <link name="Link2_right_inner_finger_pad">
        <visual>
            <origin rpy="0 0 0" xyz="0 0 0" />
            <geometry>
                <box size="0.022 0.00635 0.0375" />
            </geometry>
            <material name="">
                <color rgba="0.9 0.9 0.9 1" />
            </material>
        </visual>
        <collision>
            <origin rpy="0 0 0" xyz="0 0 0" />
            <geometry>
                <box size="0.022 0.00635 0.0375" />
            </geometry>
            <material name="">
                <color rgba="0.9 0.0 0.0 1" />
            </material>
        </collision>
        <inertial>
            <mass value="0.1" />
            <origin xyz="0 0 0" rpy="0 0 0" />
            <inertia ixx="0.03" iyy="0.03" izz="0.03" ixy="0.0" ixz="0.0" iyz="0.0" />
        </inertial>
    </link>
    <link name="Link2_right_inner_knuckle">
        <inertial>
            <origin rpy="0 0 0" xyz="0.000123011831763771 0.0507850843201817 0.00103968640075166" />
            <mass value="0.0271177346495152" />
            <inertia ixx="2.61910379223783E-05" ixy="-2.43616858946494E-07" ixz="-6.37789906117123E-09" iyy="2.8270243746167E-06" iyz="-5.37200748039765E-07" izz="2.83695868220296E-05" />
        </inertial>
        <visual>
            <origin rpy="0 0 0" xyz="0 0 0" />
            <geometry>
                <mesh filename="package://robotiq_2f_85_gripper_visualization/meshes/visual/robotiq_arg2f_85_inner_knuckle.dae" scale="0.001 0.001 0.001" />
            </geometry>
            <material name="">
                <color rgba="0.1 0.1 0.1 1" />
            </material>
        </visual>
        <collision>
            <origin rpy="0 0 0" xyz="0 0 0" />
            <geometry>
                <mesh filename="package://robotiq_2f_85_gripper_visualization/meshes/collision/robotiq_arg2f_85_inner_knuckle.dae" scale="0.001 0.001 0.001" />
            </geometry>
        </collision>
    </link>
    <joint name="Link2_right_finger_joint" type="revolute">
        <origin rpy="0 0 0" xyz="0 0.0306011 0.054904" />
        <parent link="Link2_robotiq_arg2f_base_link" />
        <child link="Link2_right_outer_knuckle" />
        <axis xyz="1 0 0" />
        <limit effort="1000" lower="0" upper="0.81" velocity="0.5" />
        <mimic joint="Link2_finger_joint" multiplier="1" offset="0" />
    </joint>
    <link name="Link3_0">
        <inertial>
            <origin rpy="0 0 0" xyz="0.085427 -0.025518 0" />
            <mass value="0.960" />
            <inertia ixx="0.000648473" ixy="-0.001018876" ixz="0.000012959" iyy="0.002674366" iyz="0" izz="0.003031056" />
        </inertial>
        <visual>
            <origin rpy="0 0 0" xyz="0 0 0" />
            <geometry>
                <mesh filename="package://robot_description/meshes/Link_0.STL" />
            </geometry>
            <material name="">
                <color rgba="0 1 1 1" />
            </material>
        </visual>
        <collision>
            <origin rpy="0 0 0" xyz="0 0 0" />
            <geometry>
                <mesh filename="package://robot_description/meshes/Link_0.STL" />
            </geometry>
        </collision>
    </link>
    <joint name="Joint3_0" type="revolute">
        <origin rpy="1.5707963267948966 0 3.9269908169872414" xyz="-0.072125 -0.072125 0.018" />
        <parent link="base_link" />
        <child link="Link3_0" />
        <axis xyz="0 0 1" />
        <dynamics damping="0.1" friction="0.8" />
        <limit effort="1000" lower="0" upper="1.5707963267948966" velocity="10" />
    </joint>
    <link name="Link3_1">
        <inertial>
            <origin rpy="0 0 0" xyz="0.052469 -0.009040 0.002060" />
            <mass value="0.914" />
            <inertia ixx="0.000671687" ixy="-0.000084224" ixz="-0.000107815" iyy="0.000786758" iyz="0.000017298" izz="0.000958254" />
        </inertial>
        <visual>
            <origin rpy="0 0 0" xyz="0 0 0" />
            <geometry>
                <mesh filename="package://robot_description/meshes/Link_1.STL" />
            </geometry>
            <material name="">
                <color rgba="1 1 1 1" />
            </material>
        </visual>
        <collision>
            <origin rpy="0 0 0" xyz="0 0 0" />
            <geometry>
                <mesh filename="package://robot_description/meshes/Link_1.STL" />
            </geometry>
        </collision>
    </link>
    <joint name="Joint3_1" type="revolute">
        <origin rpy="-1.5707963267948966 0 0" xyz="0.12 -0.117 0" />
        <parent link="Link3_0" />
        <child link="Link3_1" />
        <axis xyz="0 0 1" />
        <dynamics damping="0.1" friction="0.8" />
        <limit effort="300" lower="-2.356194490192345" upper="4.71238898038469" velocity="10" />
    </joint>
    <link name="Link3_2">
        <inertial>
            <origin rpy="0 0 0" xyz="0.273270 0.000006 0.007530" />
            <mass value="1.144" />
            <inertia ixx="0.000909959" ixy="0" ixz="0.000569994" iyy="0.018834040" iyz="0" izz="0.018336908" />
        </inertial>
        <visual>
            <origin rpy="0 0 0" xyz="0 0 0" />
            <geometry>
                <mesh filename="package://robot_description/meshes/Link_2.STL" />
            </geometry>
            <material name="">
                <color rgba="1 1 1 1" />
            </material>
        </visual>
        <collision>
            <origin rpy="0 0 0" xyz="0 0 0" />
            <geometry>
                <mesh filename="package://robot_description/meshes/Link_2.STL" />
            </geometry>
        </collision>
    </link>
    <joint name="Joint3_2" type="revolute">
        <origin rpy="1.5707963267948966 0 0" xyz="0.0625 -0.0025 0" />
        <parent link="Link3_1" />
        <child link="Link3_2" />
        <axis xyz="0 0 1" />
        <dynamics damping="0.1" friction="0.8" />
        <limit effort="300" lower="-2.0943951023931953" upper="1.5707963267948966" velocity="10" />
    </joint>
    <link name="Link3_3">
        <inertial>
            <origin rpy="0 0 0" xyz="0.081336 -0.0003 -0.000693" />
            <mass value="0.395" />
            <inertia ixx="0.000576423" ixy="0" ixz="0.000031283" iyy="0.001662107" iyz="0" izz="0.001334389" />
        </inertial>
        <visual>
            <origin rpy="0 0 0" xyz="0 0 0" />
            <geometry>
                <mesh filename="package://robot_description/meshes/Link_3.STL" />
            </geometry>
            <material name="">
                <color rgba="1 1 1 1" />
            </material>
        </visual>
        <collision>
            <origin rpy="0 0 0" xyz="0 0 0" />
            <geometry>
                <mesh filename="package://robot_description/meshes/Link_3.STL" />
            </geometry>
        </collision>
    </link>
    <joint name="Joint3_3" type="revolute">
        <origin rpy="-3.141592653589793 0 0" xyz="0.35 0.0002 0" />
        <parent link="Link3_2" />
        <child link="Link3_3" />
        <axis xyz="0 0 1" />
        <dynamics damping="0.1" friction="0.8" />
        <limit effort="300" lower="-2.530727415391778" upper="2.530727415391778" velocity="10" />
    </joint>
    <link name="Link3_4">
        <inertial>
            <origin rpy="0 0 0" xyz="0.005438 0.000120 0.134002" />
            <mass value="0.376" />
            <inertia ixx="0.0001484574" ixy="0" ixz="0.000099045" iyy="0.001658464" iyz="-0.000002871" izz="0.000360737" />
        </inertial>
        <visual>
            <origin rpy="0 0 0" xyz="0 0 0" />
            <geometry>
                <mesh filename="package://robot_description/meshes/Link_4.STL" />
            </geometry>
            <material name="">
                <color rgba="1 1 1 1" />
            </material>
        </visual>
        <collision>
            <origin rpy="0 0 0" xyz="0 0 0" />
            <geometry>
                <mesh filename="package://robot_description/meshes/Link_4.STL" />
            </geometry>
        </collision>
    </link>
    <joint name="Joint3_4" type="revolute">
        <origin rpy="0 -1.5707963267948966 -3.141592653589793" xyz="0.1745 0 0" />
        <parent link="Link3_3" />
        <child link="Link3_4" />
        <axis xyz="0 0 1" />
        <dynamics damping="0.1" friction="0.8" />
        <limit effort="100" lower="-3.141592653589793" upper="3.141592653589793" velocity="10" />
    </joint>
    <link name="Link3_5">
        <inertial>
            <origin rpy="0 0 0" xyz="0.058277 0 -0.001068" />
            <mass value="0.327" />
            <inertia ixx="0.000412080" ixy="0" ixz="0.000002889" iyy="0.000943104" iyz="0" izz="0.000708641" />
        </inertial>
        <visual>
            <origin rpy="0 0 0" xyz="0 0 0" />
            <geometry>
                <mesh filename="package://robot_description/meshes/Link_5.STL" />
            </geometry>
            <material name="">
                <color rgba="1 1 1 1" />
            </material>
        </visual>
        <collision>
            <origin rpy="0 0 0" xyz="0 0 0" />
            <geometry>
                <mesh filename="package://robot_description/meshes/Link_5.STL" />
            </geometry>
        </collision>
    </link>
    <joint name="Joint3_5" type="revolute">
        <origin rpy="3.141592653589793 -1.5707963267948966 0" xyz="0 0 0.1795" />
        <parent link="Link3_4" />
        <child link="Link3_5" />
        <axis xyz="0 0 1" />
        <dynamics damping="0.1" friction="0.8" />
        <limit effort="100" lower="-1.9198621771937623" upper="1.9198621771937623" velocity="10" />
    </joint>
    <link name="Link3_6">
        <inertial>
            <origin rpy="0 0 0" xyz="-0.000076 -0.001467 0.088450" />
            <mass value="0.366" />
            <inertia ixx="0.000945510" ixy="-0.000011196" ixz="0" iyy="0.000811306" iyz="-0.000011704" izz="0.000402389" />
        </inertial>
        <visual>
            <origin rpy="0 0 0" xyz="0 0 0" />
            <geometry>
                <mesh filename="package://robot_description/meshes/Link_6.STL" />
            </geometry>
            <material name="">
                <color rgba="1 1 1 1" />
            </material>
        </visual>
        <collision>
            <origin rpy="0 0 0" xyz="0 0 0" />
            <geometry>
                <mesh filename="package://robot_description/meshes/Link_6.STL" />
            </geometry>
        </collision>
    </link>
    <joint name="Joint3_6" type="revolute">
        <origin rpy="3.141592653589793 -1.5707963267948966 0" xyz="0.141 0 0" />
        <parent link="Link3_5" />
        <child link="Link3_6" />
        <axis xyz="0 0 1" />
        <dynamics damping="0.1" friction="0.8" />
        <limit effort="100" lower="-3.141592653589793" upper="3.141592653589793" velocity="10" />
    </joint>
    <!--定义fixed关节，将robotiq_arg2f_base_link连接到机械臂末端的tool0-->
    <joint name="Joint3_hand" type="fixed">
        <parent link="Link3_6" />
        <child link="Link3_robotiq_arg2f_base_link" />
        <origin rpy="0 0 0" xyz="0 0 0.0385" />
    </joint>
    <transmission name="Link3_finger_joint_trans">
        <type>transmission_interface/SimpleTransmission</type>
        <joint name="Link3_finger_joint">
            <hardwareInterface>hardware_interface/EffortJointInterface</hardwareInterface>
        </joint>
        <actuator name="Link3_finger_joint_motor">
            <mechanicalReduction>1</mechanicalReduction>
            <hardwareInterface>hardware_interface/EffortJointInterface</hardwareInterface>
        </actuator>
    </transmission>
    <!-- base link -->
    <link name="Link3_robotiq_arg2f_base_link">
        <inertial>
            <origin rpy="0 0 0" xyz="8.625E-08 -4.6583E-06 0.03145" />
            <mass value="0.22652" />
            <inertia ixx="0.00020005" ixy="-4.2442E-10" ixz="-2.9069E-10" iyy="0.00017832" iyz="-3.4402E-08" izz="0.00013478" />
        </inertial>
        <visual>
            <origin rpy="0 0 0" xyz="0 0 0" />
            <geometry>
                <mesh filename="package://robotiq_2f_85_gripper_visualization/meshes/visual/robotiq_arg2f_base_link.stl" />
            </geometry>
            <material name="">
                <color rgba="0.1 0.1 0.1 1" />
            </material>
        </visual>
        <collision>
            <origin rpy="0 0 0" xyz="0 0 0" />
            <!-- <geometry><sphere radius="0.04" /></geometry> -->
            <geometry>
                <mesh filename="package://robotiq_2f_85_gripper_visualization/meshes/collision/robotiq_arg2f_base_link.stl" />
            </geometry>
            <surface>
                <friction>
                    <torsional>
                        <coefficient>5.0</coefficient>
                        <surface_radius>0.01</surface_radius>
                        <use_patch_radius>false</use_patch_radius>
                    </torsional>
                </friction>
            </surface>
        </collision>
    </link>
    <link name="Link3_left_outer_knuckle">
        <inertial>
            <origin rpy="0 0 0" xyz="-0.000200000000003065 0.0199435877845359 0.0292245259211331" />
            <mass value="0.00853198276973456" />
            <inertia ixx="2.89328108496468E-06" ixy="-1.57935047237397E-19" ixz="-1.93980378593255E-19" iyy="1.86719750325683E-06" iyz="-1.21858577871576E-06" izz="1.21905238907251E-06" />
        </inertial>
        <visual>
            <origin rpy="0 0 0" xyz="0 0 0" />
            <geometry>
                <mesh filename="package://robotiq_2f_85_gripper_visualization/meshes/visual/robotiq_arg2f_85_outer_knuckle.dae" scale="0.001 0.001 0.001" />
            </geometry>
            <material name="">
                <color rgba="0.792156862745098 0.819607843137255 0.933333333333333 1" />
            </material>
        </visual>
        <collision>
            <origin rpy="0 0 0" xyz="0 0 0" />
            <geometry>
                <mesh filename="package://robotiq_2f_85_gripper_visualization/meshes/collision/robotiq_arg2f_85_outer_knuckle.dae" scale="0.001 0.001 0.001" />
            </geometry>
        </collision>
    </link>
    <link name="Link3_left_outer_finger">
        <inertial>
            <origin rpy="0 0 0" xyz="0.00030115855001899 0.0373907951953854 -0.0208027427000385" />
            <mass value="0.022614240507152" />
            <inertia ixx="1.52518312458174E-05" ixy="9.76583423954399E-10" ixz="-5.43838577022588E-10" iyy="6.17694243867776E-06" iyz="6.78636130740228E-06" izz="1.16494917907219E-05" />
        </inertial>
        <visual>
            <origin rpy="0 0 0" xyz="0 0 0" />
            <geometry>
                <mesh filename="package://robotiq_2f_85_gripper_visualization/meshes/visual/robotiq_arg2f_85_outer_finger.dae" scale="0.001 0.001 0.001" />
            </geometry>
            <material name="">
                <color rgba="0.1 0.1 0.1 1" />
            </material>
        </visual>
        <collision>
            <origin rpy="0 0 0" xyz="0 0 0" />
            <geometry>
                <mesh filename="package://robotiq_2f_85_gripper_visualization/meshes/collision/robotiq_arg2f_85_outer_finger.dae" scale="0.001 0.001 0.001" />
            </geometry>
        </collision>
    </link>
    <link name="Link3_left_inner_finger">
        <inertial>
            <origin rpy="0 0 0" xyz="0.000299999999999317 0.0160078233491243 -0.0136945669206257" />
            <mass value="0.0104003125914103" />
            <inertia ixx="2.71909453810972E-06" ixy="1.35402465472579E-21" ixz="-7.1817349065269E-22" iyy="7.69100314106116E-07" iyz="6.74715432769696E-07" izz="2.30315190420171E-06" />
        </inertial>
        <visual>
            <origin rpy="0 0 0" xyz="0 0 0" />
            <geometry>
                <mesh filename="package://robotiq_2f_85_gripper_visualization/meshes/visual/robotiq_arg2f_85_inner_finger.dae" scale="0.001 0.001 0.001" />
            </geometry>
            <material name="">
                <color rgba="0.1 0.1 0.1 1" />
            </material>
        </visual>
        <collision>
            <origin rpy="0 0 0" xyz="0 0 0" />
            <geometry>
                <mesh filename="package://robotiq_2f_85_gripper_visualization/meshes/collision/robotiq_arg2f_85_inner_finger.dae" scale="0.001 0.001 0.001" />
            </geometry>
        </collision>
    </link>
    <link name="Link3_left_inner_finger_pad">
        <visual>
            <origin rpy="0 0 0" xyz="0 0 0" />
            <geometry>
                <box size="0.022 0.00635 0.0375" />
            </geometry>
            <material name="">
                <color rgba="0.9 0.9 0.9 1" />
            </material>
        </visual>
        <collision>
            <origin rpy="0 0 0" xyz="0 0 0" />
            <geometry>
                <box size="0.022 0.00635 0.0375" />
            </geometry>
            <material name="">
                <color rgba="0.9 0.0 0.0 1" />
            </material>
        </collision>
        <inertial>
            <mass value="0.1" />
            <origin xyz="0 0 0" rpy="0 0 0" />
            <inertia ixx="0.03" iyy="0.03" izz="0.03" ixy="0.0" ixz="0.0" iyz="0.0" />
        </inertial>
    </link>
    <link name="Link3_left_inner_knuckle">
        <inertial>
            <origin rpy="0 0 0" xyz="0.000123011831763771 0.0507850843201817 0.00103968640075166" />
            <mass value="0.0271177346495152" />
            <inertia ixx="2.61910379223783E-05" ixy="-2.43616858946494E-07" ixz="-6.37789906117123E-09" iyy="2.8270243746167E-06" iyz="-5.37200748039765E-07" izz="2.83695868220296E-05" />
        </inertial>
        <visual>
            <origin rpy="0 0 0" xyz="0 0 0" />
            <geometry>
                <mesh filename="package://robotiq_2f_85_gripper_visualization/meshes/visual/robotiq_arg2f_85_inner_knuckle.dae" scale="0.001 0.001 0.001" />
            </geometry>
            <material name="">
                <color rgba="0.1 0.1 0.1 1" />
            </material>
        </visual>
        <collision>
            <origin rpy="0 0 0" xyz="0 0 0" />
            <geometry>
                <mesh filename="package://robotiq_2f_85_gripper_visualization/meshes/collision/robotiq_arg2f_85_inner_knuckle.dae" scale="0.001 0.001 0.001" />
            </geometry>
        </collision>
    </link>
    <joint name="Link3_left_outer_finger_joint" type="fixed">
        <origin rpy="0 0 0" xyz="0 0.0315 -0.0041" />
        <parent link="Link3_left_outer_knuckle" />
        <child link="Link3_left_outer_finger" />
        <axis xyz="1 0 0" />
    </joint>
    <joint name="Link3_left_inner_knuckle_joint" type="revolute">
        <!-- <origin xyz="0 ${reflect * -0.0127} 0.06142" rpy="${pi / 2 + .725} 0 ${(reflect - 1) * pi / 2}" /> -->
        <origin rpy="0 0 3.141592653589793" xyz="0 -0.0127 0.06142" />
        <parent link="Link3_robotiq_arg2f_base_link" />
        <child link="Link3_left_inner_knuckle" />
        <axis xyz="1 0 0" />
        <limit effort="1000" lower="0" upper="0.8757" velocity="0.5" />
        <mimic joint="Link3_finger_joint" multiplier="1" offset="0" />
    </joint>
    <joint name="Link3_left_inner_finger_joint" type="revolute">
        <origin rpy="0 0 0" xyz="0 0.0061 0.0471" />
        <parent link="Link3_left_outer_finger" />
        <child link="Link3_left_inner_finger" />
        <axis xyz="1 0 0" />
        <limit effort="1000" lower="-0.8757" upper="0" velocity="0.5" />
        <mimic joint="Link3_finger_joint" multiplier="-1" offset="0" />
    </joint>
    <joint name="Link3_left_inner_finger_pad_joint" type="fixed">
        <origin rpy="0 0 0" xyz="0 -0.0220203446692936 0.03242" />
        <parent link="Link3_left_inner_finger" />
        <child link="Link3_left_inner_finger_pad" />
        <axis xyz="0 0 1" />
    </joint>
    <joint name="Link3_finger_joint" type="revolute">
        <origin rpy="0 0 3.141592653589793" xyz="0 -0.0306011 0.054904" />
        <parent link="Link3_robotiq_arg2f_base_link" />
        <child link="Link3_left_outer_knuckle" />
        <axis xyz="1 0 0" />
        <limit effort="1000" lower="0" upper="0.8" velocity="0.5" />
    </joint>
    <joint name="Link3_right_outer_finger_joint" type="fixed">
        <origin rpy="0 0 0" xyz="0 0.0315 -0.0041" />
        <parent link="Link3_right_outer_knuckle" />
        <child link="Link3_right_outer_finger" />
        <axis xyz="1 0 0" />
    </joint>
    <joint name="Link3_right_inner_knuckle_joint" type="revolute">
        <!-- <origin xyz="0 ${reflect * -0.0127} 0.06142" rpy="${pi / 2 + .725} 0 ${(reflect - 1) * pi / 2}" /> -->
        <origin rpy="0 0 0.0" xyz="0 0.0127 0.06142" />
        <parent link="Link3_robotiq_arg2f_base_link" />
        <child link="Link3_right_inner_knuckle" />
        <axis xyz="1 0 0" />
        <limit effort="1000" lower="0" upper="0.8757" velocity="0.5" />
        <mimic joint="Link3_finger_joint" multiplier="1" offset="0" />
    </joint>
    <joint name="Link3_right_inner_finger_joint" type="revolute">
        <origin rpy="0 0 0" xyz="0 0.0061 0.0471" />
        <parent link="Link3_right_outer_finger" />
        <child link="Link3_right_inner_finger" />
        <axis xyz="1 0 0" />
        <limit effort="1000" lower="-0.8757" upper="0" velocity="0.5" />
        <mimic joint="Link3_finger_joint" multiplier="-1" offset="0" />
    </joint>
    <joint name="Link3_right_inner_finger_pad_joint" type="fixed">
        <origin rpy="0 0 0" xyz="0 -0.0220203446692936 0.03242" />
        <parent link="Link3_right_inner_finger" />
        <child link="Link3_right_inner_finger_pad" />
        <axis xyz="0 0 1" />
    </joint>
    <link name="Link3_right_outer_knuckle">
        <inertial>
            <origin rpy="0 0 0" xyz="-0.000200000000003065 0.0199435877845359 0.0292245259211331" />
            <mass value="0.00853198276973456" />
            <inertia ixx="2.89328108496468E-06" ixy="-1.57935047237397E-19" ixz="-1.93980378593255E-19" iyy="1.86719750325683E-06" iyz="-1.21858577871576E-06" izz="1.21905238907251E-06" />
        </inertial>
        <visual>
            <origin rpy="0 0 0" xyz="0 0 0" />
            <geometry>
                <mesh filename="package://robotiq_2f_85_gripper_visualization/meshes/visual/robotiq_arg2f_85_outer_knuckle.dae" scale="0.001 0.001 0.001" />
            </geometry>
            <material name="">
                <color rgba="0.792156862745098 0.819607843137255 0.933333333333333 1" />
            </material>
        </visual>
        <collision>
            <origin rpy="0 0 0" xyz="0 0 0" />
            <geometry>
                <mesh filename="package://robotiq_2f_85_gripper_visualization/meshes/collision/robotiq_arg2f_85_outer_knuckle.dae" scale="0.001 0.001 0.001" />
            </geometry>
        </collision>
    </link>
    <link name="Link3_right_outer_finger">
        <inertial>
            <origin rpy="0 0 0" xyz="0.00030115855001899 0.0373907951953854 -0.0208027427000385" />
            <mass value="0.022614240507152" />
            <inertia ixx="1.52518312458174E-05" ixy="9.76583423954399E-10" ixz="-5.43838577022588E-10" iyy="6.17694243867776E-06" iyz="6.78636130740228E-06" izz="1.16494917907219E-05" />
        </inertial>
        <visual>
            <origin rpy="0 0 0" xyz="0 0 0" />
            <geometry>
                <mesh filename="package://robotiq_2f_85_gripper_visualization/meshes/visual/robotiq_arg2f_85_outer_finger.dae" scale="0.001 0.001 0.001" />
            </geometry>
            <material name="">
                <color rgba="0.1 0.1 0.1 1" />
            </material>
        </visual>
        <collision>
            <origin rpy="0 0 0" xyz="0 0 0" />
            <geometry>
                <mesh filename="package://robotiq_2f_85_gripper_visualization/meshes/collision/robotiq_arg2f_85_outer_finger.dae" scale="0.001 0.001 0.001" />
            </geometry>
        </collision>
    </link>
    <link name="Link3_right_inner_finger">
        <inertial>
            <origin rpy="0 0 0" xyz="0.000299999999999317 0.0160078233491243 -0.0136945669206257" />
            <mass value="0.0104003125914103" />
            <inertia ixx="2.71909453810972E-06" ixy="1.35402465472579E-21" ixz="-7.1817349065269E-22" iyy="7.69100314106116E-07" iyz="6.74715432769696E-07" izz="2.30315190420171E-06" />
        </inertial>
        <visual>
            <origin rpy="0 0 0" xyz="0 0 0" />
            <geometry>
                <mesh filename="package://robotiq_2f_85_gripper_visualization/meshes/visual/robotiq_arg2f_85_inner_finger.dae" scale="0.001 0.001 0.001" />
            </geometry>
            <material name="">
                <color rgba="0.1 0.1 0.1 1" />
            </material>
        </visual>
        <collision>
            <origin rpy="0 0 0" xyz="0 0 0" />
            <geometry>
                <mesh filename="package://robotiq_2f_85_gripper_visualization/meshes/collision/robotiq_arg2f_85_inner_finger.dae" scale="0.001 0.001 0.001" />
            </geometry>
        </collision>
    </link>
    <link name="Link3_right_inner_finger_pad">
        <visual>
            <origin rpy="0 0 0" xyz="0 0 0" />
            <geometry>
                <box size="0.022 0.00635 0.0375" />
            </geometry>
            <material name="">
                <color rgba="0.9 0.9 0.9 1" />
            </material>
        </visual>
        <collision>
            <origin rpy="0 0 0" xyz="0 0 0" />
            <geometry>
                <box size="0.022 0.00635 0.0375" />
            </geometry>
            <material name="">
                <color rgba="0.9 0.0 0.0 1" />
            </material>
        </collision>
        <inertial>
            <mass value="0.1" />
            <origin xyz="0 0 0" rpy="0 0 0" />
            <inertia ixx="0.03" iyy="0.03" izz="0.03" ixy="0.0" ixz="0.0" iyz="0.0" />
        </inertial>
    </link>
    <link name="Link3_right_inner_knuckle">
        <inertial>
            <origin rpy="0 0 0" xyz="0.000123011831763771 0.0507850843201817 0.00103968640075166" />
            <mass value="0.0271177346495152" />
            <inertia ixx="2.61910379223783E-05" ixy="-2.43616858946494E-07" ixz="-6.37789906117123E-09" iyy="2.8270243746167E-06" iyz="-5.37200748039765E-07" izz="2.83695868220296E-05" />
        </inertial>
        <visual>
            <origin rpy="0 0 0" xyz="0 0 0" />
            <geometry>
                <mesh filename="package://robotiq_2f_85_gripper_visualization/meshes/visual/robotiq_arg2f_85_inner_knuckle.dae" scale="0.001 0.001 0.001" />
            </geometry>
            <material name="">
                <color rgba="0.1 0.1 0.1 1" />
            </material>
        </visual>
        <collision>
            <origin rpy="0 0 0" xyz="0 0 0" />
            <geometry>
                <mesh filename="package://robotiq_2f_85_gripper_visualization/meshes/collision/robotiq_arg2f_85_inner_knuckle.dae" scale="0.001 0.001 0.001" />
            </geometry>
        </collision>
    </link>
    <joint name="Link3_right_finger_joint" type="revolute">
        <origin rpy="0 0 0" xyz="0 0.0306011 0.054904" />
        <parent link="Link3_robotiq_arg2f_base_link" />
        <child link="Link3_right_outer_knuckle" />
        <axis xyz="1 0 0" />
        <limit effort="1000" lower="0" upper="0.81" velocity="0.5" />
        <mimic joint="Link3_finger_joint" multiplier="1" offset="0" />
    </joint>
    <link name="Link4_0">
        <inertial>
            <origin rpy="0 0 0" xyz="0.085427 -0.025518 0" />
            <mass value="0.960" />
            <inertia ixx="0.000648473" ixy="-0.001018876" ixz="0.000012959" iyy="0.002674366" iyz="0" izz="0.003031056" />
        </inertial>
        <visual>
            <origin rpy="0 0 0" xyz="0 0 0" />
            <geometry>
                <mesh filename="package://robot_description/meshes/Link_0.STL" />
            </geometry>
            <material name="">
                <color rgba="0 1 1 1" />
            </material>
        </visual>
        <collision>
            <origin rpy="0 0 0" xyz="0 0 0" />
            <geometry>
                <mesh filename="package://robot_description/meshes/Link_0.STL" />
            </geometry>
        </collision>
    </link>
    <joint name="Joint4_0" type="revolute">
        <origin rpy="1.5707963267948966 0 5.497787143782138" xyz="0.072125 -0.072125 0.018" />
        <parent link="base_link" />
        <child link="Link4_0" />
        <axis xyz="0 0 1" />
        <dynamics damping="0.1" friction="0.8" />
        <limit effort="1000" lower="0" upper="1.5707963267948966" velocity="10" />
    </joint>
    <link name="Link4_1">
        <inertial>
            <origin rpy="0 0 0" xyz="0.052469 -0.009040 0.002060" />
            <mass value="0.914" />
            <inertia ixx="0.000671687" ixy="-0.000084224" ixz="-0.000107815" iyy="0.000786758" iyz="0.000017298" izz="0.000958254" />
        </inertial>
        <visual>
            <origin rpy="0 0 0" xyz="0 0 0" />
            <geometry>
                <mesh filename="package://robot_description/meshes/Link_1.STL" />
            </geometry>
            <material name="">
                <color rgba="1 1 1 1" />
            </material>
        </visual>
        <collision>
            <origin rpy="0 0 0" xyz="0 0 0" />
            <geometry>
                <mesh filename="package://robot_description/meshes/Link_1.STL" />
            </geometry>
        </collision>
    </link>
    <joint name="Joint4_1" type="revolute">
        <origin rpy="-1.5707963267948966 0 0" xyz="0.12 -0.117 0" />
        <parent link="Link4_0" />
        <child link="Link4_1" />
        <axis xyz="0 0 1" />
        <dynamics damping="0.1" friction="0.8" />
        <limit effort="300" lower="-2.356194490192345" upper="4.71238898038469" velocity="10" />
    </joint>
    <link name="Link4_2">
        <inertial>
            <origin rpy="0 0 0" xyz="0.273270 0.000006 0.007530" />
            <mass value="1.144" />
            <inertia ixx="0.000909959" ixy="0" ixz="0.000569994" iyy="0.018834040" iyz="0" izz="0.018336908" />
        </inertial>
        <visual>
            <origin rpy="0 0 0" xyz="0 0 0" />
            <geometry>
                <mesh filename="package://robot_description/meshes/Link_2.STL" />
            </geometry>
            <material name="">
                <color rgba="1 1 1 1" />
            </material>
        </visual>
        <collision>
            <origin rpy="0 0 0" xyz="0 0 0" />
            <geometry>
                <mesh filename="package://robot_description/meshes/Link_2.STL" />
            </geometry>
        </collision>
    </link>
    <joint name="Joint4_2" type="revolute">
        <origin rpy="1.5707963267948966 0 0" xyz="0.0625 -0.0025 0" />
        <parent link="Link4_1" />
        <child link="Link4_2" />
        <axis xyz="0 0 1" />
        <dynamics damping="0.1" friction="0.8" />
        <limit effort="300" lower="-2.0943951023931953" upper="1.5707963267948966" velocity="10" />
    </joint>
    <link name="Link4_3">
        <inertial>
            <origin rpy="0 0 0" xyz="0.081336 -0.0003 -0.000693" />
            <mass value="0.395" />
            <inertia ixx="0.000576423" ixy="0" ixz="0.000031283" iyy="0.001662107" iyz="0" izz="0.001334389" />
        </inertial>
        <visual>
            <origin rpy="0 0 0" xyz="0 0 0" />
            <geometry>
                <mesh filename="package://robot_description/meshes/Link_3.STL" />
            </geometry>
            <material name="">
                <color rgba="1 1 1 1" />
            </material>
        </visual>
        <collision>
            <origin rpy="0 0 0" xyz="0 0 0" />
            <geometry>
                <mesh filename="package://robot_description/meshes/Link_3.STL" />
            </geometry>
        </collision>
    </link>
    <joint name="Joint4_3" type="revolute">
        <origin rpy="-3.141592653589793 0 0" xyz="0.35 0.0002 0" />
        <parent link="Link4_2" />
        <child link="Link4_3" />
        <axis xyz="0 0 1" />
        <dynamics damping="0.1" friction="0.8" />
        <limit effort="300" lower="-2.530727415391778" upper="2.530727415391778" velocity="10" />
    </joint>
    <link name="Link4_4">
        <inertial>
            <origin rpy="0 0 0" xyz="0.005438 0.000120 0.134002" />
            <mass value="0.376" />
            <inertia ixx="0.0001484574" ixy="0" ixz="0.000099045" iyy="0.001658464" iyz="-0.000002871" izz="0.000360737" />
        </inertial>
        <visual>
            <origin rpy="0 0 0" xyz="0 0 0" />
            <geometry>
                <mesh filename="package://robot_description/meshes/Link_4.STL" />
            </geometry>
            <material name="">
                <color rgba="1 1 1 1" />
            </material>
        </visual>
        <collision>
            <origin rpy="0 0 0" xyz="0 0 0" />
            <geometry>
                <mesh filename="package://robot_description/meshes/Link_4.STL" />
            </geometry>
        </collision>
    </link>
    <joint name="Joint4_4" type="revolute">
        <origin rpy="0 -1.5707963267948966 -3.141592653589793" xyz="0.1745 0 0" />
        <parent link="Link4_3" />
        <child link="Link4_4" />
        <axis xyz="0 0 1" />
        <dynamics damping="0.1" friction="0.8" />
        <limit effort="100" lower="-3.141592653589793" upper="3.141592653589793" velocity="10" />
    </joint>
    <link name="Link4_5">
        <inertial>
            <origin rpy="0 0 0" xyz="0.058277 0 -0.001068" />
            <mass value="0.327" />
            <inertia ixx="0.000412080" ixy="0" ixz="0.000002889" iyy="0.000943104" iyz="0" izz="0.000708641" />
        </inertial>
        <visual>
            <origin rpy="0 0 0" xyz="0 0 0" />
            <geometry>
                <mesh filename="package://robot_description/meshes/Link_5.STL" />
            </geometry>
            <material name="">
                <color rgba="1 1 1 1" />
            </material>
        </visual>
        <collision>
            <origin rpy="0 0 0" xyz="0 0 0" />
            <geometry>
                <mesh filename="package://robot_description/meshes/Link_5.STL" />
            </geometry>
        </collision>
    </link>
    <joint name="Joint4_5" type="revolute">
        <origin rpy="3.141592653589793 -1.5707963267948966 0" xyz="0 0 0.1795" />
        <parent link="Link4_4" />
        <child link="Link4_5" />
        <axis xyz="0 0 1" />
        <dynamics damping="0.1" friction="0.8" />
        <limit effort="100" lower="-1.9198621771937623" upper="1.9198621771937623" velocity="10" />
    </joint>
    <link name="Link4_6">
        <inertial>
            <origin rpy="0 0 0" xyz="-0.000076 -0.001467 0.088450" />
            <mass value="0.366" />
            <inertia ixx="0.000945510" ixy="-0.000011196" ixz="0" iyy="0.000811306" iyz="-0.000011704" izz="0.000402389" />
        </inertial>
        <visual>
            <origin rpy="0 0 0" xyz="0 0 0" />
            <geometry>
                <mesh filename="package://robot_description/meshes/Link_6.STL" />
            </geometry>
            <material name="">
                <color rgba="1 1 1 1" />
            </material>
        </visual>
        <collision>
            <origin rpy="0 0 0" xyz="0 0 0" />
            <geometry>
                <mesh filename="package://robot_description/meshes/Link_6.STL" />
            </geometry>
        </collision>
    </link>
    <joint name="Joint4_6" type="revolute">
        <origin rpy="3.141592653589793 -1.5707963267948966 0" xyz="0.141 0 0" />
        <parent link="Link4_5" />
        <child link="Link4_6" />
        <axis xyz="0 0 1" />
        <dynamics damping="0.1" friction="0.8" />
        <limit effort="100" lower="-3.141592653589793" upper="3.141592653589793" velocity="10" />
    </joint>
    <!--定义fixed关节，将robotiq_arg2f_base_link连接到机械臂末端的tool0-->
    <joint name="Joint4_hand" type="fixed">
        <parent link="Link4_6" />
        <child link="Link4_robotiq_arg2f_base_link" />
        <origin rpy="0 0 0" xyz="0 0 0.0385" />
    </joint>
    <transmission name="Link4_finger_joint_trans">
        <type>transmission_interface/SimpleTransmission</type>
        <joint name="Link4_finger_joint">
            <hardwareInterface>hardware_interface/EffortJointInterface</hardwareInterface>
        </joint>
        <actuator name="Link4_finger_joint_motor">
            <mechanicalReduction>1</mechanicalReduction>
            <hardwareInterface>hardware_interface/EffortJointInterface</hardwareInterface>
        </actuator>
    </transmission>
    <!-- base link -->
    <link name="Link4_robotiq_arg2f_base_link">
        <inertial>
            <origin rpy="0 0 0" xyz="8.625E-08 -4.6583E-06 0.03145" />
            <mass value="0.22652" />
            <inertia ixx="0.00020005" ixy="-4.2442E-10" ixz="-2.9069E-10" iyy="0.00017832" iyz="-3.4402E-08" izz="0.00013478" />
        </inertial>
        <visual>
            <origin rpy="0 0 0" xyz="0 0 0" />
            <geometry>
                <mesh filename="package://robotiq_2f_85_gripper_visualization/meshes/visual/robotiq_arg2f_base_link.stl" />
            </geometry>
            <material name="">
                <color rgba="0.1 0.1 0.1 1" />
            </material>
        </visual>
        <collision>
            <origin rpy="0 0 0" xyz="0 0 0" />
            <!-- <geometry><sphere radius="0.04" /></geometry> -->
            <geometry>
                <mesh filename="package://robotiq_2f_85_gripper_visualization/meshes/collision/robotiq_arg2f_base_link.stl" />
            </geometry>
            <surface>
                <friction>
                    <torsional>
                        <coefficient>5.0</coefficient>
                        <surface_radius>0.01</surface_radius>
                        <use_patch_radius>false</use_patch_radius>
                    </torsional>
                </friction>
            </surface>
        </collision>
    </link>
    <link name="Link4_left_outer_knuckle">
        <inertial>
            <origin rpy="0 0 0" xyz="-0.000200000000003065 0.0199435877845359 0.0292245259211331" />
            <mass value="0.00853198276973456" />
            <inertia ixx="2.89328108496468E-06" ixy="-1.57935047237397E-19" ixz="-1.93980378593255E-19" iyy="1.86719750325683E-06" iyz="-1.21858577871576E-06" izz="1.21905238907251E-06" />
        </inertial>
        <visual>
            <origin rpy="0 0 0" xyz="0 0 0" />
            <geometry>
                <mesh filename="package://robotiq_2f_85_gripper_visualization/meshes/visual/robotiq_arg2f_85_outer_knuckle.dae" scale="0.001 0.001 0.001" />
            </geometry>
            <material name="">
                <color rgba="0.792156862745098 0.819607843137255 0.933333333333333 1" />
            </material>
        </visual>
        <collision>
            <origin rpy="0 0 0" xyz="0 0 0" />
            <geometry>
                <mesh filename="package://robotiq_2f_85_gripper_visualization/meshes/collision/robotiq_arg2f_85_outer_knuckle.dae" scale="0.001 0.001 0.001" />
            </geometry>
        </collision>
    </link>
    <link name="Link4_left_outer_finger">
        <inertial>
            <origin rpy="0 0 0" xyz="0.00030115855001899 0.0373907951953854 -0.0208027427000385" />
            <mass value="0.022614240507152" />
            <inertia ixx="1.52518312458174E-05" ixy="9.76583423954399E-10" ixz="-5.43838577022588E-10" iyy="6.17694243867776E-06" iyz="6.78636130740228E-06" izz="1.16494917907219E-05" />
        </inertial>
        <visual>
            <origin rpy="0 0 0" xyz="0 0 0" />
            <geometry>
                <mesh filename="package://robotiq_2f_85_gripper_visualization/meshes/visual/robotiq_arg2f_85_outer_finger.dae" scale="0.001 0.001 0.001" />
            </geometry>
            <material name="">
                <color rgba="0.1 0.1 0.1 1" />
            </material>
        </visual>
        <collision>
            <origin rpy="0 0 0" xyz="0 0 0" />
            <geometry>
                <mesh filename="package://robotiq_2f_85_gripper_visualization/meshes/collision/robotiq_arg2f_85_outer_finger.dae" scale="0.001 0.001 0.001" />
            </geometry>
        </collision>
    </link>
    <link name="Link4_left_inner_finger">
        <inertial>
            <origin rpy="0 0 0" xyz="0.000299999999999317 0.0160078233491243 -0.0136945669206257" />
            <mass value="0.0104003125914103" />
            <inertia ixx="2.71909453810972E-06" ixy="1.35402465472579E-21" ixz="-7.1817349065269E-22" iyy="7.69100314106116E-07" iyz="6.74715432769696E-07" izz="2.30315190420171E-06" />
        </inertial>
        <visual>
            <origin rpy="0 0 0" xyz="0 0 0" />
            <geometry>
                <mesh filename="package://robotiq_2f_85_gripper_visualization/meshes/visual/robotiq_arg2f_85_inner_finger.dae" scale="0.001 0.001 0.001" />
            </geometry>
            <material name="">
                <color rgba="0.1 0.1 0.1 1" />
            </material>
        </visual>
        <collision>
            <origin rpy="0 0 0" xyz="0 0 0" />
            <geometry>
                <mesh filename="package://robotiq_2f_85_gripper_visualization/meshes/collision/robotiq_arg2f_85_inner_finger.dae" scale="0.001 0.001 0.001" />
            </geometry>
        </collision>
    </link>
    <link name="Link4_left_inner_finger_pad">
        <visual>
            <origin rpy="0 0 0" xyz="0 0 0" />
            <geometry>
                <box size="0.022 0.00635 0.0375" />
            </geometry>
            <material name="">
                <color rgba="0.9 0.9 0.9 1" />
            </material>
        </visual>
        <collision>
            <origin rpy="0 0 0" xyz="0 0 0" />
            <geometry>
                <box size="0.022 0.00635 0.0375" />
            </geometry>
            <material name="">
                <color rgba="0.9 0.0 0.0 1" />
            </material>
        </collision>
        <inertial>
            <mass value="0.1" />
            <origin xyz="0 0 0" rpy="0 0 0" />
            <inertia ixx="0.03" iyy="0.03" izz="0.03" ixy="0.0" ixz="0.0" iyz="0.0" />
        </inertial>
    </link>
    <link name="Link4_left_inner_knuckle">
        <inertial>
            <origin rpy="0 0 0" xyz="0.000123011831763771 0.0507850843201817 0.00103968640075166" />
            <mass value="0.0271177346495152" />
            <inertia ixx="2.61910379223783E-05" ixy="-2.43616858946494E-07" ixz="-6.37789906117123E-09" iyy="2.8270243746167E-06" iyz="-5.37200748039765E-07" izz="2.83695868220296E-05" />
        </inertial>
        <visual>
            <origin rpy="0 0 0" xyz="0 0 0" />
            <geometry>
                <mesh filename="package://robotiq_2f_85_gripper_visualization/meshes/visual/robotiq_arg2f_85_inner_knuckle.dae" scale="0.001 0.001 0.001" />
            </geometry>
            <material name="">
                <color rgba="0.1 0.1 0.1 1" />
            </material>
        </visual>
        <collision>
            <origin rpy="0 0 0" xyz="0 0 0" />
            <geometry>
                <mesh filename="package://robotiq_2f_85_gripper_visualization/meshes/collision/robotiq_arg2f_85_inner_knuckle.dae" scale="0.001 0.001 0.001" />
            </geometry>
        </collision>
    </link>
    <joint name="Link4_left_outer_finger_joint" type="fixed">
        <origin rpy="0 0 0" xyz="0 0.0315 -0.0041" />
        <parent link="Link4_left_outer_knuckle" />
        <child link="Link4_left_outer_finger" />
        <axis xyz="1 0 0" />
    </joint>
    <joint name="Link4_left_inner_knuckle_joint" type="revolute">
        <!-- <origin xyz="0 ${reflect * -0.0127} 0.06142" rpy="${pi / 2 + .725} 0 ${(reflect - 1) * pi / 2}" /> -->
        <origin rpy="0 0 3.141592653589793" xyz="0 -0.0127 0.06142" />
        <parent link="Link4_robotiq_arg2f_base_link" />
        <child link="Link4_left_inner_knuckle" />
        <axis xyz="1 0 0" />
        <limit effort="1000" lower="0" upper="0.8757" velocity="0.5" />
        <mimic joint="Link4_finger_joint" multiplier="1" offset="0" />
    </joint>
    <joint name="Link4_left_inner_finger_joint" type="revolute">
        <origin rpy="0 0 0" xyz="0 0.0061 0.0471" />
        <parent link="Link4_left_outer_finger" />
        <child link="Link4_left_inner_finger" />
        <axis xyz="1 0 0" />
        <limit effort="1000" lower="-0.8757" upper="0" velocity="0.5" />
        <mimic joint="Link4_finger_joint" multiplier="-1" offset="0" />
    </joint>
    <joint name="Link4_left_inner_finger_pad_joint" type="fixed">
        <origin rpy="0 0 0" xyz="0 -0.0220203446692936 0.03242" />
        <parent link="Link4_left_inner_finger" />
        <child link="Link4_left_inner_finger_pad" />
        <axis xyz="0 0 1" />
    </joint>
    <joint name="Link4_finger_joint" type="revolute">
        <origin rpy="0 0 3.141592653589793" xyz="0 -0.0306011 0.054904" />
        <parent link="Link4_robotiq_arg2f_base_link" />
        <child link="Link4_left_outer_knuckle" />
        <axis xyz="1 0 0" />
        <limit effort="1000" lower="0" upper="0.8" velocity="0.5" />
    </joint>
    <joint name="Link4_right_outer_finger_joint" type="fixed">
        <origin rpy="0 0 0" xyz="0 0.0315 -0.0041" />
        <parent link="Link4_right_outer_knuckle" />
        <child link="Link4_right_outer_finger" />
        <axis xyz="1 0 0" />
    </joint>
    <joint name="Link4_right_inner_knuckle_joint" type="revolute">
        <!-- <origin xyz="0 ${reflect * -0.0127} 0.06142" rpy="${pi / 2 + .725} 0 ${(reflect - 1) * pi / 2}" /> -->
        <origin rpy="0 0 0.0" xyz="0 0.0127 0.06142" />
        <parent link="Link4_robotiq_arg2f_base_link" />
        <child link="Link4_right_inner_knuckle" />
        <axis xyz="1 0 0" />
        <limit effort="1000" lower="0" upper="0.8757" velocity="0.5" />
        <mimic joint="Link4_finger_joint" multiplier="1" offset="0" />
    </joint>
    <joint name="Link4_right_inner_finger_joint" type="revolute">
        <origin rpy="0 0 0" xyz="0 0.0061 0.0471" />
        <parent link="Link4_right_outer_finger" />
        <child link="Link4_right_inner_finger" />
        <axis xyz="1 0 0" />
        <limit effort="1000" lower="-0.8757" upper="0" velocity="0.5" />
        <mimic joint="Link4_finger_joint" multiplier="-1" offset="0" />
    </joint>
    <joint name="Link4_right_inner_finger_pad_joint" type="fixed">
        <origin rpy="0 0 0" xyz="0 -0.0220203446692936 0.03242" />
        <parent link="Link4_right_inner_finger" />
        <child link="Link4_right_inner_finger_pad" />
        <axis xyz="0 0 1" />
    </joint>
    <link name="Link4_right_outer_knuckle">
        <inertial>
            <origin rpy="0 0 0" xyz="-0.000200000000003065 0.0199435877845359 0.0292245259211331" />
            <mass value="0.00853198276973456" />
            <inertia ixx="2.89328108496468E-06" ixy="-1.57935047237397E-19" ixz="-1.93980378593255E-19" iyy="1.86719750325683E-06" iyz="-1.21858577871576E-06" izz="1.21905238907251E-06" />
        </inertial>
        <visual>
            <origin rpy="0 0 0" xyz="0 0 0" />
            <geometry>
                <mesh filename="package://robotiq_2f_85_gripper_visualization/meshes/visual/robotiq_arg2f_85_outer_knuckle.dae" scale="0.001 0.001 0.001" />
            </geometry>
            <material name="">
                <color rgba="0.792156862745098 0.819607843137255 0.933333333333333 1" />
            </material>
        </visual>
        <collision>
            <origin rpy="0 0 0" xyz="0 0 0" />
            <geometry>
                <mesh filename="package://robotiq_2f_85_gripper_visualization/meshes/collision/robotiq_arg2f_85_outer_knuckle.dae" scale="0.001 0.001 0.001" />
            </geometry>
        </collision>
    </link>
    <link name="Link4_right_outer_finger">
        <inertial>
            <origin rpy="0 0 0" xyz="0.00030115855001899 0.0373907951953854 -0.0208027427000385" />
            <mass value="0.022614240507152" />
            <inertia ixx="1.52518312458174E-05" ixy="9.76583423954399E-10" ixz="-5.43838577022588E-10" iyy="6.17694243867776E-06" iyz="6.78636130740228E-06" izz="1.16494917907219E-05" />
        </inertial>
        <visual>
            <origin rpy="0 0 0" xyz="0 0 0" />
            <geometry>
                <mesh filename="package://robotiq_2f_85_gripper_visualization/meshes/visual/robotiq_arg2f_85_outer_finger.dae" scale="0.001 0.001 0.001" />
            </geometry>
            <material name="">
                <color rgba="0.1 0.1 0.1 1" />
            </material>
        </visual>
        <collision>
            <origin rpy="0 0 0" xyz="0 0 0" />
            <geometry>
                <mesh filename="package://robotiq_2f_85_gripper_visualization/meshes/collision/robotiq_arg2f_85_outer_finger.dae" scale="0.001 0.001 0.001" />
            </geometry>
        </collision>
    </link>
    <link name="Link4_right_inner_finger">
        <inertial>
            <origin rpy="0 0 0" xyz="0.000299999999999317 0.0160078233491243 -0.0136945669206257" />
            <mass value="0.0104003125914103" />
            <inertia ixx="2.71909453810972E-06" ixy="1.35402465472579E-21" ixz="-7.1817349065269E-22" iyy="7.69100314106116E-07" iyz="6.74715432769696E-07" izz="2.30315190420171E-06" />
        </inertial>
        <visual>
            <origin rpy="0 0 0" xyz="0 0 0" />
            <geometry>
                <mesh filename="package://robotiq_2f_85_gripper_visualization/meshes/visual/robotiq_arg2f_85_inner_finger.dae" scale="0.001 0.001 0.001" />
            </geometry>
            <material name="">
                <color rgba="0.1 0.1 0.1 1" />
            </material>
        </visual>
        <collision>
            <origin rpy="0 0 0" xyz="0 0 0" />
            <geometry>
                <mesh filename="package://robotiq_2f_85_gripper_visualization/meshes/collision/robotiq_arg2f_85_inner_finger.dae" scale="0.001 0.001 0.001" />
            </geometry>
        </collision>
    </link>
    <link name="Link4_right_inner_finger_pad">
        <visual>
            <origin rpy="0 0 0" xyz="0 0 0" />
            <geometry>
                <box size="0.022 0.00635 0.0375" />
            </geometry>
            <material name="">
                <color rgba="0.9 0.9 0.9 1" />
            </material>
        </visual>
        <collision>
            <origin rpy="0 0 0" xyz="0 0 0" />
            <geometry>
                <box size="0.022 0.00635 0.0375" />
            </geometry>
            <material name="">
                <color rgba="0.9 0.0 0.0 1" />
            </material>
        </collision>
        <inertial>
            <mass value="0.1" />
            <origin xyz="0 0 0" rpy="0 0 0" />
            <inertia ixx="0.03" iyy="0.03" izz="0.03" ixy="0.0" ixz="0.0" iyz="0.0" />
        </inertial>
    </link>
    <link name="Link4_right_inner_knuckle">
        <inertial>
            <origin rpy="0 0 0" xyz="0.000123011831763771 0.0507850843201817 0.00103968640075166" />
            <mass value="0.0271177346495152" />
            <inertia ixx="2.61910379223783E-05" ixy="-2.43616858946494E-07" ixz="-6.37789906117123E-09" iyy="2.8270243746167E-06" iyz="-5.37200748039765E-07" izz="2.83695868220296E-05" />
        </inertial>
        <visual>
            <origin rpy="0 0 0" xyz="0 0 0" />
            <geometry>
                <mesh filename="package://robotiq_2f_85_gripper_visualization/meshes/visual/robotiq_arg2f_85_inner_knuckle.dae" scale="0.001 0.001 0.001" />
            </geometry>
            <material name="">
                <color rgba="0.1 0.1 0.1 1" />
            </material>
        </visual>
        <collision>
            <origin rpy="0 0 0" xyz="0 0 0" />
            <geometry>
                <mesh filename="package://robotiq_2f_85_gripper_visualization/meshes/collision/robotiq_arg2f_85_inner_knuckle.dae" scale="0.001 0.001 0.001" />
            </geometry>
        </collision>
    </link>
    <joint name="Link4_right_finger_joint" type="revolute">
        <origin rpy="0 0 0" xyz="0 0.0306011 0.054904" />
        <parent link="Link4_robotiq_arg2f_base_link" />
        <child link="Link4_right_outer_knuckle" />
        <axis xyz="1 0 0" />
        <limit effort="1000" lower="0" upper="0.81" velocity="0.5" />
        <mimic joint="Link4_finger_joint" multiplier="1" offset="0" />
    </joint>
    <transmission name="trans_Joint1_0">
        <type>transmission_interface/SimpleTransmission</type>
        <joint name="Joint1_0">
            <hardwareInterface>hardware_interface/EffortJointInterface</hardwareInterface>
        </joint>
        <actuator name="Joint1_0_motor">
            <hardwareInterface>hardware_interface/EffortJointInterface</hardwareInterface>
            <mechanicalReduction>1</mechanicalReduction>
        </actuator>
    </transmission>
    <transmission name="trans_Joint1_1">
        <type>transmission_interface/SimpleTransmission</type>
        <joint name="Joint1_1">
            <hardwareInterface>hardware_interface/EffortJointInterface</hardwareInterface>
        </joint>
        <actuator name="Joint1_1_motor">
            <hardwareInterface>hardware_interface/EffortJointInterface</hardwareInterface>
            <mechanicalReduction>1</mechanicalReduction>
        </actuator>
    </transmission>
    <transmission name="trans_Joint1_2">
        <type>transmission_interface/SimpleTransmission</type>
        <joint name="Joint1_2">
            <hardwareInterface>hardware_interface/EffortJointInterface</hardwareInterface>
        </joint>
        <actuator name="Joint1_2_motor">
            <hardwareInterface>hardware_interface/EffortJointInterface</hardwareInterface>
            <mechanicalReduction>1</mechanicalReduction>
        </actuator>
    </transmission>
    <transmission name="trans_Joint1_3">
        <type>transmission_interface/SimpleTransmission</type>
        <joint name="Joint1_3">
            <hardwareInterface>hardware_interface/EffortJointInterface</hardwareInterface>
        </joint>
        <actuator name="Joint1_3_motor">
            <hardwareInterface>hardware_interface/EffortJointInterface</hardwareInterface>
            <mechanicalReduction>1</mechanicalReduction>
        </actuator>
    </transmission>
    <transmission name="trans_Joint1_4">
        <type>transmission_interface/SimpleTransmission</type>
        <joint name="Joint1_4">
            <hardwareInterface>hardware_interface/EffortJointInterface</hardwareInterface>
        </joint>
        <actuator name="Joint1_4_motor">
            <hardwareInterface>hardware_interface/EffortJointInterface</hardwareInterface>
            <mechanicalReduction>1</mechanicalReduction>
        </actuator>
    </transmission>
    <transmission name="trans_Joint1_5">
        <type>transmission_interface/SimpleTransmission</type>
        <joint name="Joint1_5">
            <hardwareInterface>hardware_interface/EffortJointInterface</hardwareInterface>
        </joint>
        <actuator name="Joint1_5_motor">
            <hardwareInterface>hardware_interface/EffortJointInterface</hardwareInterface>
            <mechanicalReduction>1</mechanicalReduction>
        </actuator>
    </transmission>
    <transmission name="trans_Joint1_6">
        <type>transmission_interface/SimpleTransmission</type>
        <joint name="Joint1_6">
            <hardwareInterface>hardware_interface/EffortJointInterface</hardwareInterface>
        </joint>
        <actuator name="Joint1_6_motor">
            <hardwareInterface>hardware_interface/EffortJointInterface</hardwareInterface>
            <mechanicalReduction>1</mechanicalReduction>
        </actuator>
    </transmission>
    <transmission name="trans_Link1_left_inner_knuckle_joint">
        <type>transmission_interface/SimpleTransmission</type>
        <joint name="Link1_left_inner_knuckle_joint">
            <hardwareInterface>hardware_interface/EffortJointInterface</hardwareInterface>
        </joint>
        <actuator name="Link1_left_inner_knuckle_joint_motor">
            <hardwareInterface>hardware_interface/EffortJointInterface</hardwareInterface>
            <mechanicalReduction>1</mechanicalReduction>
        </actuator>
    </transmission>
    <transmission name="trans_Link1_left_inner_finger_joint">
        <type>transmission_interface/SimpleTransmission</type>
        <joint name="Link1_left_inner_finger_joint">
            <hardwareInterface>hardware_interface/EffortJointInterface</hardwareInterface>
        </joint>
        <actuator name="Link1_left_inner_finger_joint_motor">
            <hardwareInterface>hardware_interface/EffortJointInterface</hardwareInterface>
            <mechanicalReduction>1</mechanicalReduction>
        </actuator>
    </transmission>
    <transmission name="trans_Link1_right_inner_knuckle_joint">
        <type>transmission_interface/SimpleTransmission</type>
        <joint name="Link1_right_inner_knuckle_joint">
            <hardwareInterface>hardware_interface/EffortJointInterface</hardwareInterface>
        </joint>
        <actuator name="Link1_right_inner_knuckle_joint_motor">
            <hardwareInterface>hardware_interface/EffortJointInterface</hardwareInterface>
            <mechanicalReduction>1</mechanicalReduction>
        </actuator>
    </transmission>
    <transmission name="trans_Link1_right_inner_finger_joint">
        <type>transmission_interface/SimpleTransmission</type>
        <joint name="Link1_right_inner_finger_joint">
            <hardwareInterface>hardware_interface/EffortJointInterface</hardwareInterface>
        </joint>
        <actuator name="Link1_right_inner_finger_joint_motor">
            <hardwareInterface>hardware_interface/EffortJointInterface</hardwareInterface>
            <mechanicalReduction>1</mechanicalReduction>
        </actuator>
    </transmission>
    <transmission name="trans_Link1_right_finger_joint">
        <type>transmission_interface/SimpleTransmission</type>
        <joint name="Link1_right_finger_joint">
            <hardwareInterface>hardware_interface/EffortJointInterface</hardwareInterface>
        </joint>
        <actuator name="Link1_right_finger_joint_motor">
            <hardwareInterface>hardware_interface/EffortJointInterface</hardwareInterface>
            <mechanicalReduction>1</mechanicalReduction>
        </actuator>
    </transmission>
    <transmission name="trans_Joint2_0">
        <type>transmission_interface/SimpleTransmission</type>
        <joint name="Joint2_0">
            <hardwareInterface>hardware_interface/EffortJointInterface</hardwareInterface>
        </joint>
        <actuator name="Joint2_0_motor">
            <hardwareInterface>hardware_interface/EffortJointInterface</hardwareInterface>
            <mechanicalReduction>1</mechanicalReduction>
        </actuator>
    </transmission>
    <transmission name="trans_Joint2_1">
        <type>transmission_interface/SimpleTransmission</type>
        <joint name="Joint2_1">
            <hardwareInterface>hardware_interface/EffortJointInterface</hardwareInterface>
        </joint>
        <actuator name="Joint2_1_motor">
            <hardwareInterface>hardware_interface/EffortJointInterface</hardwareInterface>
            <mechanicalReduction>1</mechanicalReduction>
        </actuator>
    </transmission>
    <transmission name="trans_Joint2_2">
        <type>transmission_interface/SimpleTransmission</type>
        <joint name="Joint2_2">
            <hardwareInterface>hardware_interface/EffortJointInterface</hardwareInterface>
        </joint>
        <actuator name="Joint2_2_motor">
            <hardwareInterface>hardware_interface/EffortJointInterface</hardwareInterface>
            <mechanicalReduction>1</mechanicalReduction>
        </actuator>
    </transmission>
    <transmission name="trans_Joint2_3">
        <type>transmission_interface/SimpleTransmission</type>
        <joint name="Joint2_3">
            <hardwareInterface>hardware_interface/EffortJointInterface</hardwareInterface>
        </joint>
        <actuator name="Joint2_3_motor">
            <hardwareInterface>hardware_interface/EffortJointInterface</hardwareInterface>
            <mechanicalReduction>1</mechanicalReduction>
        </actuator>
    </transmission>
    <transmission name="trans_Joint2_4">
        <type>transmission_interface/SimpleTransmission</type>
        <joint name="Joint2_4">
            <hardwareInterface>hardware_interface/EffortJointInterface</hardwareInterface>
        </joint>
        <actuator name="Joint2_4_motor">
            <hardwareInterface>hardware_interface/EffortJointInterface</hardwareInterface>
            <mechanicalReduction>1</mechanicalReduction>
        </actuator>
    </transmission>
    <transmission name="trans_Joint2_5">
        <type>transmission_interface/SimpleTransmission</type>
        <joint name="Joint2_5">
            <hardwareInterface>hardware_interface/EffortJointInterface</hardwareInterface>
        </joint>
        <actuator name="Joint2_5_motor">
            <hardwareInterface>hardware_interface/EffortJointInterface</hardwareInterface>
            <mechanicalReduction>1</mechanicalReduction>
        </actuator>
    </transmission>
    <transmission name="trans_Joint2_6">
        <type>transmission_interface/SimpleTransmission</type>
        <joint name="Joint2_6">
            <hardwareInterface>hardware_interface/EffortJointInterface</hardwareInterface>
        </joint>
        <actuator name="Joint2_6_motor">
            <hardwareInterface>hardware_interface/EffortJointInterface</hardwareInterface>
            <mechanicalReduction>1</mechanicalReduction>
        </actuator>
    </transmission>
    <transmission name="trans_Link2_left_inner_knuckle_joint">
        <type>transmission_interface/SimpleTransmission</type>
        <joint name="Link2_left_inner_knuckle_joint">
            <hardwareInterface>hardware_interface/EffortJointInterface</hardwareInterface>
        </joint>
        <actuator name="Link2_left_inner_knuckle_joint_motor">
            <hardwareInterface>hardware_interface/EffortJointInterface</hardwareInterface>
            <mechanicalReduction>1</mechanicalReduction>
        </actuator>
    </transmission>
    <transmission name="trans_Link2_left_inner_finger_joint">
        <type>transmission_interface/SimpleTransmission</type>
        <joint name="Link2_left_inner_finger_joint">
            <hardwareInterface>hardware_interface/EffortJointInterface</hardwareInterface>
        </joint>
        <actuator name="Link2_left_inner_finger_joint_motor">
            <hardwareInterface>hardware_interface/EffortJointInterface</hardwareInterface>
            <mechanicalReduction>1</mechanicalReduction>
        </actuator>
    </transmission>
    <transmission name="trans_Link2_right_inner_knuckle_joint">
        <type>transmission_interface/SimpleTransmission</type>
        <joint name="Link2_right_inner_knuckle_joint">
            <hardwareInterface>hardware_interface/EffortJointInterface</hardwareInterface>
        </joint>
        <actuator name="Link2_right_inner_knuckle_joint_motor">
            <hardwareInterface>hardware_interface/EffortJointInterface</hardwareInterface>
            <mechanicalReduction>1</mechanicalReduction>
        </actuator>
    </transmission>
    <transmission name="trans_Link2_right_inner_finger_joint">
        <type>transmission_interface/SimpleTransmission</type>
        <joint name="Link2_right_inner_finger_joint">
            <hardwareInterface>hardware_interface/EffortJointInterface</hardwareInterface>
        </joint>
        <actuator name="Link2_right_inner_finger_joint_motor">
            <hardwareInterface>hardware_interface/EffortJointInterface</hardwareInterface>
            <mechanicalReduction>1</mechanicalReduction>
        </actuator>
    </transmission>
    <transmission name="trans_Link2_right_finger_joint">
        <type>transmission_interface/SimpleTransmission</type>
        <joint name="Link2_right_finger_joint">
            <hardwareInterface>hardware_interface/EffortJointInterface</hardwareInterface>
        </joint>
        <actuator name="Link2_right_finger_joint_motor">
            <hardwareInterface>hardware_interface/EffortJointInterface</hardwareInterface>
            <mechanicalReduction>1</mechanicalReduction>
        </actuator>
    </transmission>
    <transmission name="trans_Joint3_0">
        <type>transmission_interface/SimpleTransmission</type>
        <joint name="Joint3_0">
            <hardwareInterface>hardware_interface/EffortJointInterface</hardwareInterface>
        </joint>
        <actuator name="Joint3_0_motor">
            <hardwareInterface>hardware_interface/EffortJointInterface</hardwareInterface>
            <mechanicalReduction>1</mechanicalReduction>
        </actuator>
    </transmission>
    <transmission name="trans_Joint3_1">
        <type>transmission_interface/SimpleTransmission</type>
        <joint name="Joint3_1">
            <hardwareInterface>hardware_interface/EffortJointInterface</hardwareInterface>
        </joint>
        <actuator name="Joint3_1_motor">
            <hardwareInterface>hardware_interface/EffortJointInterface</hardwareInterface>
            <mechanicalReduction>1</mechanicalReduction>
        </actuator>
    </transmission>
    <transmission name="trans_Joint3_2">
        <type>transmission_interface/SimpleTransmission</type>
        <joint name="Joint3_2">
            <hardwareInterface>hardware_interface/EffortJointInterface</hardwareInterface>
        </joint>
        <actuator name="Joint3_2_motor">
            <hardwareInterface>hardware_interface/EffortJointInterface</hardwareInterface>
            <mechanicalReduction>1</mechanicalReduction>
        </actuator>
    </transmission>
    <transmission name="trans_Joint3_3">
        <type>transmission_interface/SimpleTransmission</type>
        <joint name="Joint3_3">
            <hardwareInterface>hardware_interface/EffortJointInterface</hardwareInterface>
        </joint>
        <actuator name="Joint3_3_motor">
            <hardwareInterface>hardware_interface/EffortJointInterface</hardwareInterface>
            <mechanicalReduction>1</mechanicalReduction>
        </actuator>
    </transmission>
    <transmission name="trans_Joint3_4">
        <type>transmission_interface/SimpleTransmission</type>
        <joint name="Joint3_4">
            <hardwareInterface>hardware_interface/EffortJointInterface</hardwareInterface>
        </joint>
        <actuator name="Joint3_4_motor">
            <hardwareInterface>hardware_interface/EffortJointInterface</hardwareInterface>
            <mechanicalReduction>1</mechanicalReduction>
        </actuator>
    </transmission>
    <transmission name="trans_Joint3_5">
        <type>transmission_interface/SimpleTransmission</type>
        <joint name="Joint3_5">
            <hardwareInterface>hardware_interface/EffortJointInterface</hardwareInterface>
        </joint>
        <actuator name="Joint3_5_motor">
            <hardwareInterface>hardware_interface/EffortJointInterface</hardwareInterface>
            <mechanicalReduction>1</mechanicalReduction>
        </actuator>
    </transmission>
    <transmission name="trans_Joint3_6">
        <type>transmission_interface/SimpleTransmission</type>
        <joint name="Joint3_6">
            <hardwareInterface>hardware_interface/EffortJointInterface</hardwareInterface>
        </joint>
        <actuator name="Joint3_6_motor">
            <hardwareInterface>hardware_interface/EffortJointInterface</hardwareInterface>
            <mechanicalReduction>1</mechanicalReduction>
        </actuator>
    </transmission>
    <transmission name="trans_Link3_left_inner_knuckle_joint">
        <type>transmission_interface/SimpleTransmission</type>
        <joint name="Link3_left_inner_knuckle_joint">
            <hardwareInterface>hardware_interface/EffortJointInterface</hardwareInterface>
        </joint>
        <actuator name="Link3_left_inner_knuckle_joint_motor">
            <hardwareInterface>hardware_interface/EffortJointInterface</hardwareInterface>
            <mechanicalReduction>1</mechanicalReduction>
        </actuator>
    </transmission>
    <transmission name="trans_Link3_left_inner_finger_joint">
        <type>transmission_interface/SimpleTransmission</type>
        <joint name="Link3_left_inner_finger_joint">
            <hardwareInterface>hardware_interface/EffortJointInterface</hardwareInterface>
        </joint>
        <actuator name="Link3_left_inner_finger_joint_motor">
            <hardwareInterface>hardware_interface/EffortJointInterface</hardwareInterface>
            <mechanicalReduction>1</mechanicalReduction>
        </actuator>
    </transmission>
    <transmission name="trans_Link3_right_inner_knuckle_joint">
        <type>transmission_interface/SimpleTransmission</type>
        <joint name="Link3_right_inner_knuckle_joint">
            <hardwareInterface>hardware_interface/EffortJointInterface</hardwareInterface>
        </joint>
        <actuator name="Link3_right_inner_knuckle_joint_motor">
            <hardwareInterface>hardware_interface/EffortJointInterface</hardwareInterface>
            <mechanicalReduction>1</mechanicalReduction>
        </actuator>
    </transmission>
    <transmission name="trans_Link3_right_inner_finger_joint">
        <type>transmission_interface/SimpleTransmission</type>
        <joint name="Link3_right_inner_finger_joint">
            <hardwareInterface>hardware_interface/EffortJointInterface</hardwareInterface>
        </joint>
        <actuator name="Link3_right_inner_finger_joint_motor">
            <hardwareInterface>hardware_interface/EffortJointInterface</hardwareInterface>
            <mechanicalReduction>1</mechanicalReduction>
        </actuator>
    </transmission>
    <transmission name="trans_Link3_right_finger_joint">
        <type>transmission_interface/SimpleTransmission</type>
        <joint name="Link3_right_finger_joint">
            <hardwareInterface>hardware_interface/EffortJointInterface</hardwareInterface>
        </joint>
        <actuator name="Link3_right_finger_joint_motor">
            <hardwareInterface>hardware_interface/EffortJointInterface</hardwareInterface>
            <mechanicalReduction>1</mechanicalReduction>
        </actuator>
    </transmission>
    <transmission name="trans_Joint4_0">
        <type>transmission_interface/SimpleTransmission</type>
        <joint name="Joint4_0">
            <hardwareInterface>hardware_interface/EffortJointInterface</hardwareInterface>
        </joint>
        <actuator name="Joint4_0_motor">
            <hardwareInterface>hardware_interface/EffortJointInterface</hardwareInterface>
            <mechanicalReduction>1</mechanicalReduction>
        </actuator>
    </transmission>
    <transmission name="trans_Joint4_1">
        <type>transmission_interface/SimpleTransmission</type>
        <joint name="Joint4_1">
            <hardwareInterface>hardware_interface/EffortJointInterface</hardwareInterface>
        </joint>
        <actuator name="Joint4_1_motor">
            <hardwareInterface>hardware_interface/EffortJointInterface</hardwareInterface>
            <mechanicalReduction>1</mechanicalReduction>
        </actuator>
    </transmission>
    <transmission name="trans_Joint4_2">
        <type>transmission_interface/SimpleTransmission</type>
        <joint name="Joint4_2">
            <hardwareInterface>hardware_interface/EffortJointInterface</hardwareInterface>
        </joint>
        <actuator name="Joint4_2_motor">
            <hardwareInterface>hardware_interface/EffortJointInterface</hardwareInterface>
            <mechanicalReduction>1</mechanicalReduction>
        </actuator>
    </transmission>
    <transmission name="trans_Joint4_3">
        <type>transmission_interface/SimpleTransmission</type>
        <joint name="Joint4_3">
            <hardwareInterface>hardware_interface/EffortJointInterface</hardwareInterface>
        </joint>
        <actuator name="Joint4_3_motor">
            <hardwareInterface>hardware_interface/EffortJointInterface</hardwareInterface>
            <mechanicalReduction>1</mechanicalReduction>
        </actuator>
    </transmission>
    <transmission name="trans_Joint4_4">
        <type>transmission_interface/SimpleTransmission</type>
        <joint name="Joint4_4">
            <hardwareInterface>hardware_interface/EffortJointInterface</hardwareInterface>
        </joint>
        <actuator name="Joint4_4_motor">
            <hardwareInterface>hardware_interface/EffortJointInterface</hardwareInterface>
            <mechanicalReduction>1</mechanicalReduction>
        </actuator>
    </transmission>
    <transmission name="trans_Joint4_5">
        <type>transmission_interface/SimpleTransmission</type>
        <joint name="Joint4_5">
            <hardwareInterface>hardware_interface/EffortJointInterface</hardwareInterface>
        </joint>
        <actuator name="Joint4_5_motor">
            <hardwareInterface>hardware_interface/EffortJointInterface</hardwareInterface>
            <mechanicalReduction>1</mechanicalReduction>
        </actuator>
    </transmission>
    <transmission name="trans_Joint4_6">
        <type>transmission_interface/SimpleTransmission</type>
        <joint name="Joint4_6">
            <hardwareInterface>hardware_interface/EffortJointInterface</hardwareInterface>
        </joint>
        <actuator name="Joint4_6_motor">
            <hardwareInterface>hardware_interface/EffortJointInterface</hardwareInterface>
            <mechanicalReduction>1</mechanicalReduction>
        </actuator>
    </transmission>
    <transmission name="trans_Link4_left_inner_knuckle_joint">
        <type>transmission_interface/SimpleTransmission</type>
        <joint name="Link4_left_inner_knuckle_joint">
            <hardwareInterface>hardware_interface/EffortJointInterface</hardwareInterface>
        </joint>
        <actuator name="Link4_left_inner_knuckle_joint_motor">
            <hardwareInterface>hardware_interface/EffortJointInterface</hardwareInterface>
            <mechanicalReduction>1</mechanicalReduction>
        </actuator>
    </transmission>
    <transmission name="trans_Link4_left_inner_finger_joint">
        <type>transmission_interface/SimpleTransmission</type>
        <joint name="Link4_left_inner_finger_joint">
            <hardwareInterface>hardware_interface/EffortJointInterface</hardwareInterface>
        </joint>
        <actuator name="Link4_left_inner_finger_joint_motor">
            <hardwareInterface>hardware_interface/EffortJointInterface</hardwareInterface>
            <mechanicalReduction>1</mechanicalReduction>
        </actuator>
    </transmission>
    <transmission name="trans_Link4_right_inner_knuckle_joint">
        <type>transmission_interface/SimpleTransmission</type>
        <joint name="Link4_right_inner_knuckle_joint">
            <hardwareInterface>hardware_interface/EffortJointInterface</hardwareInterface>
        </joint>
        <actuator name="Link4_right_inner_knuckle_joint_motor">
            <hardwareInterface>hardware_interface/EffortJointInterface</hardwareInterface>
            <mechanicalReduction>1</mechanicalReduction>
        </actuator>
    </transmission>
    <transmission name="trans_Link4_right_inner_finger_joint">
        <type>transmission_interface/SimpleTransmission</type>
        <joint name="Link4_right_inner_finger_joint">
            <hardwareInterface>hardware_interface/EffortJointInterface</hardwareInterface>
        </joint>
        <actuator name="Link4_right_inner_finger_joint_motor">
            <hardwareInterface>hardware_interface/EffortJointInterface</hardwareInterface>
            <mechanicalReduction>1</mechanicalReduction>
        </actuator>
    </transmission>
    <transmission name="trans_Link4_right_finger_joint">
        <type>transmission_interface/SimpleTransmission</type>
        <joint name="Link4_right_finger_joint">
            <hardwareInterface>hardware_interface/EffortJointInterface</hardwareInterface>
        </joint>
        <actuator name="Link4_right_finger_joint_motor">
            <hardwareInterface>hardware_interface/EffortJointInterface</hardwareInterface>
            <mechanicalReduction>1</mechanicalReduction>
        </actuator>
    </transmission>
    <gazebo>
        <plugin name="gazebo_ros_control" filename="libgazebo_ros_control.so">
            <robotNamespace>/</robotNamespace>
        </plugin>
    </gazebo>
</robot>
